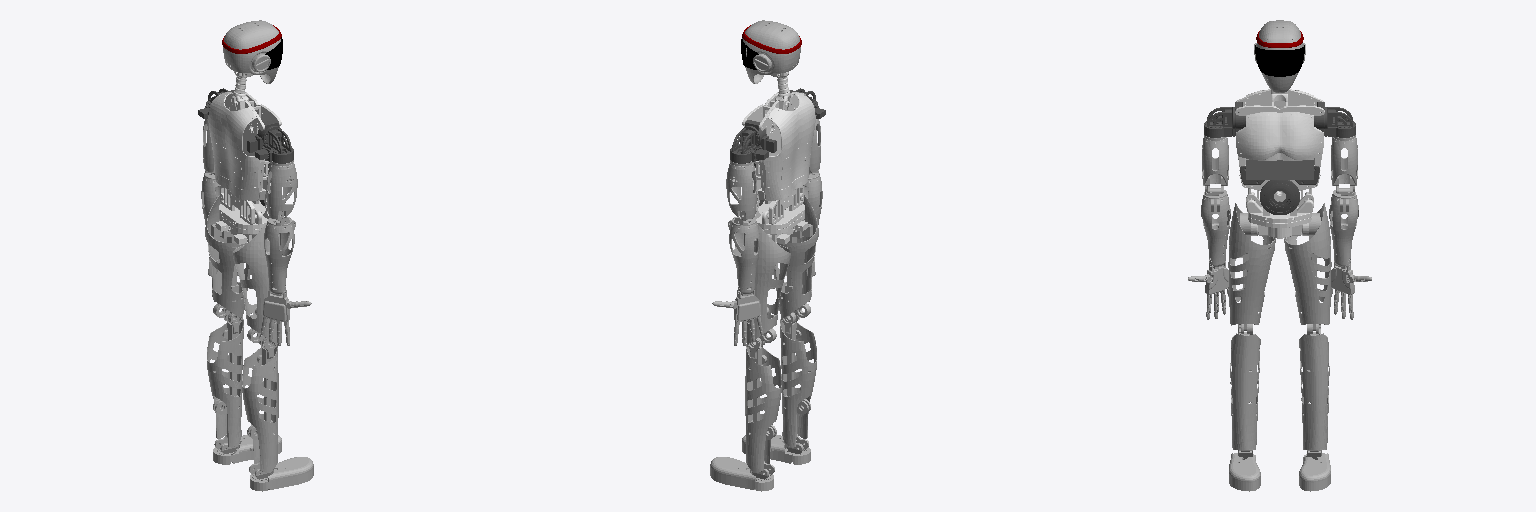
--- Render facts (derived) ---
3 views of the same robot in one strip: view 1: azimuth 30°, elevation 25°; view 2: azimuth 150°, elevation 25°; view 3: azimuth 270°, elevation 25° (orthographic).
Model css_bot with 63 links and 62 joints (34 revolute, 28 fixed), rooted at Link_Stom, posed every joint at zero.
Visible links, largest first — view 1: Link_Stom_2, Link_R_Knee, Link_L_Knee, Link_L_Hip, Link_R_Hip, Link_Head_2, Link_RShoulder_3, Link_Stom_1, Link_RElbow_1, Link_R_Foot, Link_RShoulder_2, Link_L_Foot (+2 smaller); view 2: Link_Stom_2, Link_L_Knee, Link_R_Knee, Link_R_Hip, Link_L_Hip, Link_Head_2, Link_LShoulder_3, Link_Stom_1, Link_LElbow_1, Link_L_Foot, Link_LShoulder_2, Link_R_Foot (+2 smaller); view 3: Link_Stom_2, Link_R_Hip, Link_L_Hip, Link_R_Knee, Link_L_Knee, Link_Screen, Link_Head_2, Link_RElbow_1, Link_LElbow_1, Link_LShoulder_3, Link_RShoulder_3, Link_Stom_1 (+8 smaller).
Boxes of the visible links, x1,y1,x2,y2 form: Link_Stom_2: [208, 71, 281, 200]; Link_R_Knee: [242, 338, 278, 472]; Link_L_Knee: [207, 313, 243, 447]; Link_L_Hip: [205, 195, 250, 322]; Link_R_Hip: [233, 224, 279, 346]; Link_Head_2: [223, 20, 280, 83]; Link_RShoulder_3: [267, 160, 297, 220]; Link_Stom_1: [219, 186, 269, 229]; Link_RElbow_1: [264, 215, 295, 269]; Link_R_Foot: [250, 457, 313, 491]; Link_RShoulder_2: [255, 126, 293, 163]; Link_L_Foot: [213, 434, 281, 464]; Link_Stom_2: [742, 72, 815, 200]; Link_L_Knee: [745, 338, 781, 472]; Link_R_Knee: [780, 313, 816, 447]; Link_R_Hip: [773, 195, 818, 322]; Link_L_Hip: [744, 224, 790, 346]; Link_Head_2: [742, 20, 800, 83]; Link_LShoulder_3: [726, 160, 756, 220]; Link_Stom_1: [754, 186, 804, 229]; Link_LElbow_1: [728, 215, 759, 269]; Link_L_Foot: [710, 457, 773, 491]; Link_LShoulder_2: [730, 128, 768, 163]; Link_R_Foot: [742, 434, 810, 464]; Link_Stom_2: [1235, 89, 1324, 190]; Link_R_Hip: [1228, 203, 1275, 333]; Link_L_Hip: [1284, 203, 1331, 333]; Link_R_Knee: [1230, 324, 1260, 451]; Link_L_Knee: [1299, 324, 1329, 451]; Link_Screen: [1240, 160, 1319, 214]; Link_Head_2: [1254, 20, 1305, 92]; Link_RElbow_1: [1201, 186, 1230, 241]; Link_LElbow_1: [1329, 186, 1358, 241]; Link_LShoulder_3: [1331, 135, 1357, 193]; Link_RShoulder_3: [1202, 135, 1228, 193]; Link_Stom_1: [1246, 188, 1313, 222].
Size in the robot's own frame: 0.298 by 0.6443 by 1.71 metres.
Meshes: 61 distinct files referenced, 61 mesh visuals loaded (61 binary STL).

robot.urdf — css_bot:
<?xml version="1.0" encoding="utf-8"?>
<!-- This URDF was automatically created by SolidWorks to URDF Exporter! Originally created by Stephen Brawner ([email redacted]) 
     Commit Version: 1.6.0-4-g7f85cfe  Build Version: 1.6.7995.38578
     For more information, please see http://wiki.ros.org/sw_urdf_exporter -->
<robot
  name="css_bot">
  <link
    name="Link_Stom">
    <inertial>
      <origin
        xyz="-0.010395 6.7688E-09 -0.023836"
        rpy="0 0 0" />
      <mass
        value="1.0621" />
      <inertia
        ixx="0.0038925"
        ixy="-2.8123E-10"
        ixz="3.9723E-05"
        iyy="0.001901"
        iyz="5.3901E-11"
        izz="0.0051791" />
    </inertial>
    <visual>
      <origin
        xyz="0 0 0"
        rpy="0 0 0" />
      <geometry>
        <mesh
          filename="package://css_bot/meshes/Link_Stom.STL" />
      </geometry>
      <material
        name="CoolGray1C">
        <color
          rgba="0.9 0.9 0.9 1" />
      </material>
    </visual>
    <collision>
      <origin
        xyz="0 0 0"
        rpy="0 0 0" />
      <geometry>
        <mesh
          filename="package://css_bot/meshes/Link_Stom.STL" />
      </geometry>
    </collision>
  </link>
  <link
    name="Link_Stom_1">
    <inertial>
      <origin
        xyz="-0.00760104950242152 -8.16738800348226E-10 0.0431330359785387"
        rpy="0 0 0" />
      <mass
        value="1.09120545847975" />
      <inertia
        ixx="0.0035291046529339"
        ixy="1.58514373681448E-10"
        ixz="-4.08388755605739E-05"
        iyy="0.00145987275495497"
        iyz="2.35755287339547E-10"
        izz="0.00428996022500754" />
    </inertial>
    <visual>
      <origin
        xyz="0 0 0"
        rpy="0 0 0" />
      <geometry>
        <mesh
          filename="package://css_bot/meshes/Link_Stom_1.STL" />
      </geometry>
      <material
        name="CoolGray1C">
        <color
          rgba="0.9 0.9 0.9 1" />
      </material>
    </visual>
    <collision>
      <origin
        xyz="0 0 0"
        rpy="0 0 0" />
      <geometry>
        <mesh
          filename="package://css_bot/meshes/Link_Stom_1.STL" />
      </geometry>
    </collision>
  </link>
  <joint
    name="Joint_Stom_1"
    type="fixed">
    <origin
      xyz="0 0 0"
      rpy="0 0 0" />
    <parent
      link="Link_Stom" />
    <child
      link="Link_Stom_1" />
    <axis
      xyz="0 0 1" />
    <limit
      lower="-1.6"
      upper="1.6"
      effort="100"
      velocity="1" />
    <dynamics
      damping="0"
      friction="0" />
  </joint>
  <link
    name="Link_Stom_2">
    <inertial>
      <origin
        xyz="-0.00617798342089961 9.69258275608772E-06 0.175039056480645"
        rpy="0 0 0" />
      <mass
        value="2.55411858945128" />
      <inertia
        ixx="0.0330447440758719"
        ixy="-1.10749041056143E-07"
        ixz="0.00018400689487766"
        iyy="0.0195516919886766"
        iyz="2.08788417839773E-06"
        izz="0.0140951894930034" />
    </inertial>
    <visual>
      <origin
        xyz="0 0 0"
        rpy="0 0 0" />
      <geometry>
        <mesh
          filename="package://css_bot/meshes/Link_Stom_2.STL" />
      </geometry>
      <material
        name="CoolGray1C">
        <color
          rgba="0.9 0.9 0.9 1" />
      </material>
    </visual>
    <collision>
      <origin
        xyz="0 0 0"
        rpy="0 0 0" />
      <geometry>
        <mesh
          filename="package://css_bot/meshes/Link_Stom_2.STL" />
      </geometry>
    </collision>
  </link>
  <joint
    name="Joint_Stom_2"
    type="fixed">
    <origin
      xyz="0 0 0.108"
      rpy="0 0 0" />
    <parent
      link="Link_Stom_1" />
    <child
      link="Link_Stom_2" />
    <axis
      xyz="1 0 0" />
    <limit
      lower="-0.6"
      upper="0.6"
      effort="100"
      velocity="1" />
    <dynamics
      damping="0"
      friction="0" />
  </joint>
  <link
    name="Link_RShoulder_1">
    <inertial>
      <origin
        xyz="0.0526993138939105 -0.0108285250828227 0.0120153601424977"
        rpy="0 0 0" />
      <mass
        value="0.22436008904152" />
      <inertia
        ixx="0.000110606343158319"
        ixy="6.33042195287753E-06"
        ixz="-1.34435923655176E-05"
        iyy="0.000279708883787942"
        iyz="7.6415413976905E-07"
        izz="0.000199344546225538" />
    </inertial>
    <visual>
      <origin
        xyz="0 0 0"
        rpy="0 0 0" />
      <geometry>
        <mesh
          filename="package://css_bot/meshes/Link_RShoulder_1.STL" />
      </geometry>
      <material
        name="Black">
        <color
          rgba="0.4 0.4 0.4 1" />
      </material>
    </visual>
    <collision>
      <origin
        xyz="0 0 0"
        rpy="0 0 0" />
      <geometry>
        <mesh
          filename="package://css_bot/meshes/Link_RShoulder_1.STL" />
      </geometry>
    </collision>
  </link>
  <joint
    name="Joint_RShoulder_1"
    type="revolute">
    <origin
      xyz="0 -0.1435 0.298"
      rpy="3.1416 1.5708 0" />
    <parent
      link="Link_Stom_2" />
    <child
      link="Link_RShoulder_1" />
    <axis
      xyz="0 0 1" />
    <limit
      lower="0"
      upper="1.6"
      effort="100"
      velocity="10" />
    <dynamics
      damping="0"
      friction="0" />
  </joint>
  <link
    name="Link_RShoulder_2">
    <inertial>
      <origin
        xyz="-0.00919278113282453 -0.0262090385845012 -0.0270204406704604"
        rpy="0 0 0" />
      <mass
        value="0.295164250786627" />
      <inertia
        ixx="0.000241545582831188"
        ixy="1.2905993003123E-06"
        ixz="-9.01693233840921E-06"
        iyy="0.000281618212802564"
        iyz="1.47494309594065E-06"
        izz="0.000185886607534219" />
    </inertial>
    <visual>
      <origin
        xyz="0 0 0"
        rpy="0 0 0" />
      <geometry>
        <mesh
          filename="package://css_bot/meshes/Link_RShoulder_2.STL" />
      </geometry>
      <material
        name="Black">
        <color
          rgba="0.4 0.4 0.4 1" />
      </material>
    </visual>
    <collision>
      <origin
        xyz="0 0 0"
        rpy="0 0 0" />
      <geometry>
        <mesh
          filename="package://css_bot/meshes/Link_RShoulder_2.STL" />
      </geometry>
    </collision>
  </link>
  <joint
    name="Joint_RShoulder_2"
    type="revolute">
    <origin
      xyz="0.039 0.081 0"
      rpy="-1.5708 1.5708 0" />
    <parent
      link="Link_RShoulder_1" />
    <child
      link="Link_RShoulder_2" />
    <axis
      xyz="0 0 1" />
    <limit
      lower="0"
      upper="3.2"
      effort="100"
      velocity="10" />
    <dynamics
      damping="0"
      friction="0" />
  </joint>
  <link
    name="Link_RShoulder_3">
    <inertial>
      <origin
        xyz="-0.0050292255927874 1.45597740222603E-06 -0.140384000605186"
        rpy="0 0 0" />
      <mass
        value="0.299216908480878" />
      <inertia
        ixx="0.00110749831481239"
        ixy="-1.11903745038465E-09"
        ixz="0.000126955203324863"
        iyy="0.00110531871737773"
        iyz="3.25575630405315E-08"
        izz="0.000482637023796558" />
    </inertial>
    <visual>
      <origin
        xyz="0 0 0"
        rpy="0 0 0" />
      <geometry>
        <mesh
          filename="package://css_bot/meshes/Link_RShoulder_3.STL" />
      </geometry>
      <material
        name="CoolGray4C">
        <color
          rgba="0.74 0.74 0.74 1" />
      </material>
    </visual>
    <collision>
      <origin
        xyz="0 0 0"
        rpy="0 0 0" />
      <geometry>
        <mesh
          filename="package://css_bot/meshes/Link_RShoulder_3.STL" />
      </geometry>
    </collision>
  </link>
  <joint
    name="Joint_RShoulder_3"
    type="revolute">
    <origin
      xyz="0 -0.284 0"
      rpy="1.5708 0 0" />
    <parent
      link="Link_RShoulder_2" />
    <child
      link="Link_RShoulder_3" />
    <axis
      xyz="0 0 1" />
    <limit
      lower="-1.6"
      upper="1.6"
      effort="100"
      velocity="10" />
    <dynamics
      damping="0"
      friction="0" />
  </joint>
  <link
    name="Link_RElbow_1">
    <inertial>
      <origin
        xyz="-0.00245421928023107 -0.0843351414367431 0.00416854388916815"
        rpy="0 0 0" />
      <mass
        value="0.242731060300689" />
      <inertia
        ixx="0.000626338354994353"
        ixy="-4.14375951631432E-05"
        ixz="-1.56017336140974E-05"
        iyy="0.000374866306493349"
        iyz="-1.1687248730107E-05"
        izz="0.00066113075594044" />
    </inertial>
    <visual>
      <origin
        xyz="0 0 0"
        rpy="0 0 0" />
      <geometry>
        <mesh
          filename="package://css_bot/meshes/Link_RElbow_1.STL" />
      </geometry>
      <material
        name="CoolGray4C">
        <color
          rgba="0.74 0.74 0.74 1" />
      </material>
    </visual>
    <collision>
      <origin
        xyz="0 0 0"
        rpy="0 0 0" />
      <geometry>
        <mesh
          filename="package://css_bot/meshes/Link_RElbow_1.STL" />
      </geometry>
    </collision>
  </link>
  <joint
    name="Joint_RElbow_1"
    type="revolute">
    <origin
      xyz="-0.008 -0.0065532 0"
      rpy="-1.5708 0 0" />
    <parent
      link="Link_RShoulder_3" />
    <child
      link="Link_RElbow_1" />
    <axis
      xyz="0 0 1" />
    <limit
      lower="0"
      upper="2.2"
      effort="100"
      velocity="1" />
    <dynamics
      damping="0"
      friction="0" />
  </joint>
  <link
    name="Link_RElbow_2">
    <inertial>
      <origin
        xyz="7.18961342559277E-05 -0.000360282308781629 -0.0475347118463018"
        rpy="0 0 0" />
      <mass
        value="0.158787685430162" />
      <inertia
        ixx="0.000171996630320634"
        ixy="7.78607075139518E-08"
        ixz="-3.81467208085751E-07"
        iyy="0.000178445648091556"
        iyz="5.52381737061786E-06"
        izz="7.8444581912449E-05" />
    </inertial>
    <visual>
      <origin
        xyz="0 0 0"
        rpy="0 0 0" />
      <geometry>
        <mesh
          filename="package://css_bot/meshes/Link_RElbow_2.STL" />
      </geometry>
      <material
        name="CoolGray4C">
        <color
          rgba="0.74 0.74 0.74 1" />
      </material>
    </visual>
    <collision>
      <origin
        xyz="0 0 0"
        rpy="0 0 0" />
      <geometry>
        <mesh
          filename="package://css_bot/meshes/Link_RElbow_2.STL" />
      </geometry>
    </collision>
  </link>
  <joint
    name="Joint_RElbow_2"
    type="revolute">
    <origin
      xyz="-0.0065886 -0.283 0"
      rpy="1.5708 0.61087 0" />
    <parent
      link="Link_RElbow_1" />
    <child
      link="Link_RElbow_2" />
    <axis
      xyz="0 0 1" />
    <limit
      lower="-3.2"
      upper="3.2"
      effort="100"
      velocity="1" />
    <dynamics
      damping="0"
      friction="0" />
  </joint>
  <link
    name="Link_RWrist">
    <inertial>
      <origin
        xyz="-3.78173038768359E-05 -0.0616982963757688 -0.00213797037412256"
        rpy="0 0 0" />
      <mass
        value="0.0902142977443489" />
      <inertia
        ixx="0.000157827218564051"
        ixy="-1.11371620734417E-06"
        ixz="7.68125657090408E-07"
        iyy="7.37514900983847E-05"
        iyz="-2.21689704274223E-06"
        izz="8.9448371336846E-05" />
    </inertial>
    <visual>
      <origin
        xyz="0 0 0"
        rpy="0 0 0" />
      <geometry>
        <mesh
          filename="package://css_bot/meshes/Link_RWrist.STL" />
      </geometry>
      <material
        name="CoolGray4C">
        <color
          rgba="0.74 0.74 0.74 1" />
      </material>
    </visual>
    <collision>
      <origin
        xyz="0 0 0"
        rpy="0 0 0" />
      <geometry>
        <mesh
          filename="package://css_bot/meshes/Link_RWrist.STL" />
      </geometry>
    </collision>
  </link>
  <joint
    name="Joint_RWrist"
    type="revolute">
    <origin
      xyz="0 0 0"
      rpy="-1.5708 0 0" />
    <parent
      link="Link_RElbow_2" />
    <child
      link="Link_RWrist" />
    <axis
      xyz="0 0 1" />
    <limit
      lower="-1.6"
      upper="1.6"
      effort="100"
      velocity="1" />
    <dynamics
      damping="0"
      friction="0" />
  </joint>
  
  
  
  
  
  <link
    name="Link_RHand">
    <inertial>
      <origin
        xyz="0 0 0"
        rpy="0 0 0" />
      <mass
        value="0.01" />
      <inertia
        ixx="1E-05"
        ixy="0"
        ixz="0"
        iyy="1E-05"
        iyz="0"
        izz="1E-05" />
    </inertial>
    <visual>
      <origin
        xyz="0 0 0"
        rpy="0 0 0" />
      <geometry>
        <box size="0.001 0.001 0.001" />
      </geometry>
      <material
        name="CoolGray4C">
        <color
          rgba="0.74 0.74 0.74 1" />
      </material>
    </visual>
    <collision>
      <origin
        xyz="0 0 0"
        rpy="0 0 0" />
      <geometry>
        <box size="0.001 0.001 0.001" />
      </geometry>
    </collision>
  </link>
  
  
  <joint
    name="Joint_RHand"
    type="revolute">
    <origin
      xyz="0 -0.07 0"
      rpy="0 0 0" />
    <parent
      link="Link_RWrist" />
    <child
      link="Link_RHand" />
    <axis
      xyz="1 0 0" />
    <limit
      lower="-1.6"
      upper="1.6"
      effort="100"
      velocity="1" />
    <dynamics
      damping="0"
      friction="0" />
  </joint>
  
  

  <link
    name="Link_LShoulder_1">
    <inertial>
      <origin
        xyz="0.0510533433361345 -0.00326315277223052 -0.00926588156540074"
        rpy="0 0 0" />
      <mass
        value="0.290934699369272" />
      <inertia
        ixx="0.000138660279827731"
        ixy="1.22470230213397E-05"
        ixz="1.34432948244159E-05"
        iyy="0.000352507370976174"
        iyz="-7.64157785142655E-07"
        izz="0.000256248629367538" />
    </inertial>
    <visual>
      <origin
        xyz="0 0 0"
        rpy="0 0 0" />
      <geometry>
        <mesh
          filename="package://css_bot/meshes/Link_LShoulder_1.STL" />
      </geometry>
      <material
        name="Black">
        <color
          rgba="0.4 0.4 0.4 1" />
      </material>
    </visual>
    <collision>
      <origin
        xyz="0 0 0"
        rpy="0 0 0" />
      <geometry>
        <mesh
          filename="package://css_bot/meshes/Link_LShoulder_1.STL" />
      </geometry>
    </collision>
  </link>
  <joint
    name="Joint_LShoulder_1"
    type="revolute">
    <origin
      xyz="0 0.1435 0.298"
      rpy="0 1.5708 0" />
    <parent
      link="Link_Stom_2" />
    <child
      link="Link_LShoulder_1" />
    <axis
      xyz="0 0 1" />
    <limit
      lower="0"
      upper="1.6"
      effort="100"
      velocity="1" />
    <dynamics
      damping="0"
      friction="0" />
  </joint>
  <link
    name="Link_LShoulder_2">
    <inertial>
      <origin
        xyz="-0.00919279828932673 -0.0262090339664297 0.0270204527291376"
        rpy="0 0 0" />
      <mass
        value="0.295164282264257" />
      <inertia
        ixx="0.000241545396772354"
        ixy="1.29059441831345E-06"
        ixz="9.01650246544348E-06"
        iyy="0.000281617999616376"
        iyz="-1.47487765925017E-06"
        izz="0.000185886599441572" />
    </inertial>
    <visual>
      <origin
        xyz="0 0 0"
        rpy="0 0 0" />
      <geometry>
        <mesh
          filename="package://css_bot/meshes/Link_LShoulder_2.STL" />
      </geometry>
      <material
        name="Black">
        <color
          rgba="0.4 0.4 0.4 1" />
      </material>
    </visual>
    <collision>
      <origin
        xyz="0 0 0"
        rpy="0 0 0" />
      <geometry>
        <mesh
          filename="package://css_bot/meshes/Link_LShoulder_2.STL" />
      </geometry>
    </collision>
  </link>
  <joint
    name="Joint_LShoulder_2"
    type="revolute">
    <origin
      xyz="0.039 0.081 0"
      rpy="1.5708 -1.5708 0" />
    <parent
      link="Link_LShoulder_1" />
    <child
      link="Link_LShoulder_2" />
    <axis
      xyz="0 0 1" />
    <limit
      lower="0"
      upper="3.2"
      effort="100"
      velocity="1" />
    <dynamics
      damping="0"
      friction="0" />
  </joint>
  <link
    name="Link_LShoulder_3">
    <inertial>
      <origin
        xyz="-0.00502922561677471 -1.45601391268735E-06 0.140384000579655"
        rpy="0 0 0" />
      <mass
        value="0.299216908463602" />
      <inertia
        ixx="0.00110749831524665"
        ixy="1.11812019895739E-09"
        ixz="-0.000126955201093836"
        iyy="0.00110531871807052"
        iyz="3.2556000409913E-08"
        izz="0.000482637023951345" />
    </inertial>
    <visual>
      <origin
        xyz="0 0 0"
        rpy="0 0 0" />
      <geometry>
        <mesh
          filename="package://css_bot/meshes/Link_LShoulder_3.STL" />
      </geometry>
      <material
        name="CoolGray4C">
        <color
          rgba="0.74 0.74 0.74 1" />
      </material>
    </visual>
    <collision>
      <origin
        xyz="0 0 0"
        rpy="0 0 0" />
      <geometry>
        <mesh
          filename="package://css_bot/meshes/Link_LShoulder_3.STL" />
      </geometry>
    </collision>
  </link>
  <joint
    name="Joint_LShoulder_3"
    type="revolute">
    <origin
      xyz="0 -0.284 0"
      rpy="-1.5708 0 0" />
    <parent
      link="Link_LShoulder_2" />
    <child
      link="Link_LShoulder_3" />
    <axis
      xyz="0 0 1" />
    <limit
      lower="-1.6"
      upper="1.6"
      effort="100"
      velocity="1" />
    <dynamics
      damping="0"
      friction="0" />
  </joint>
  <link
    name="Link_LElbow_1">
    <inertial>
      <origin
        xyz="-0.00242244016275873 -0.0843357594651711 -0.00416805387048946"
        rpy="0 0 0" />
      <mass
        value="0.242785147456823" />
      <inertia
        ixx="0.000626371587316545"
        ixy="-4.14696425589225E-05"
        ixz="1.56040453777136E-05"
        iyy="0.000374912863849707"
        iyz="1.16689145799547E-05"
        izz="0.000661179044762751" />
    </inertial>
    <visual>
      <origin
        xyz="0 0 0"
        rpy="0 0 0" />
      <geometry>
        <mesh
          filename="package://css_bot/meshes/Link_LElbow_1.STL" />
      </geometry>
      <material
        name="CoolGray4C">
        <color
          rgba="0.74 0.74 0.74 1" />
      </material>
    </visual>
    <collision>
      <origin
        xyz="0 0 0"
        rpy="0 0 0" />
      <geometry>
        <mesh
          filename="package://css_bot/meshes/Link_LElbow_1.STL" />
      </geometry>
    </collision>
  </link>
  <joint
    name="Joint_LElbow_1"
    type="revolute">
    <origin
      xyz="-0.008 -0.0065532 0"
      rpy="1.5708 0 0" />
    <parent
      link="Link_LShoulder_3" />
    <child
      link="Link_LElbow_1" />
    <axis
      xyz="0 0 1" />
    <limit
      lower="0"
      upper="2.2"
      effort="100"
      velocity="1" />
    <dynamics
      damping="0"
      friction="0" />
  </joint>
  <link
    name="Link_LElbow_2">
    <inertial>
      <origin
        xyz="7.11991651743127E-05 -0.000361046082564515 0.0475376748447518"
        rpy="0 0 0" />
      <mass
        value="0.158786049387992" />
      <inertia
        ixx="0.000171964623991344"
        ixy="7.95763973462228E-08"
        ixz="3.80210295994158E-07"
        iyy="0.000178426550457842"
        iyz="-5.5242827160403E-06"
        izz="7.84373030335707E-05" />
    </inertial>
    <visual>
      <origin
        xyz="0 0 0"
        rpy="0 0 0" />
      <geometry>
        <mesh
          filename="package://css_bot/meshes/Link_LElbow_2.STL" />
      </geometry>
      <material
        name="CoolGray4C">
        <color
          rgba="0.74 0.74 0.74 1" />
      </material>
    </visual>
    <collision>
      <origin
        xyz="0 0 0"
        rpy="0 0 0" />
      <geometry>
        <mesh
          filename="package://css_bot/meshes/Link_LElbow_2.STL" />
      </geometry>
    </collision>
  </link>
  <joint
    name="Joint_LElbow_2"
    type="revolute">
    <origin
      xyz="-0.0065886 -0.283 0"
      rpy="-1.5708 -0.61087 0" />
    <parent
      link="Link_LElbow_1" />
    <child
      link="Link_LElbow_2" />
    <axis
      xyz="0 0 1" />
    <limit
      lower="-3.2"
      upper="3.2"
      effort="100"
      velocity="1" />
    <dynamics
      damping="0"
      friction="0" />
  </joint>
  <link
    name="Link_LWrist">
    <inertial>
      <origin
        xyz="-3.77612508208336E-05 -0.0616983819606961 0.00213780181540502"
        rpy="0 0 0" />
      <mass
        value="0.0902143819327976" />
      <inertia
        ixx="0.000157825667171504"
        ixy="-1.11374466439326E-06"
        ixz="-7.68207492668127E-07"
        iyy="7.37508927218217E-05"
        iyz="2.21760096429943E-06"
        izz="8.94474097660853E-05" />
    </inertial>
    <visual>
      <origin
        xyz="0 0 0"
        rpy="0 0 0" />
      <geometry>
        <mesh
          filename="package://css_bot/meshes/Link_LWrist.STL" />
      </geometry>
      <material
        name="CoolGray4C">
        <color
          rgba="0.74 0.74 0.74 1" />
      </material>
    </visual>
    <collision>
      <origin
        xyz="0 0 0"
        rpy="0 0 0" />
      <geometry>
        <mesh
          filename="package://css_bot/meshes/Link_LWrist.STL" />
      </geometry>
    </collision>
  </link>
  <joint
    name="Joint_LWrist"
    type="revolute">
    <origin
      xyz="0 0 0"
      rpy="1.5708 0 0" />
    <parent
      link="Link_LElbow_2" />
    <child
      link="Link_LWrist" />
    <axis
      xyz="0 0 1" />
    <limit
      lower="-1.6"
      upper="1.6"
      effort="100"
      velocity="1" />
    <dynamics
      damping="0"
      friction="0" />
  </joint>
  
  
  
  
  <link
    name="Link_LHand">
    <inertial>
      <origin
        xyz="0 0 0"
        rpy="0 0 0" />
      <mass
        value="0.01" />
      <inertia
        ixx="1E-05"
        ixy="0"
        ixz="0"
        iyy="1E-05"
        iyz="0"
        izz="1E-05" />
    </inertial>
    <visual>
      <origin
        xyz="0 0 0"
        rpy="0 0 0" />
      <geometry>
        <box size="0.001 0.001 0.001" />
      </geometry>
      <material
        name="CoolGray4C">
        <color
          rgba="0.74 0.74 0.74 1" />
      </material>
    </visual>
    <collision>
      <origin
        xyz="0 0 0"
        rpy="0 0 0" />
      <geometry>
        <box size="0.001 0.001 0.001" />
      </geometry>
    </collision>
  </link>
  
  
  <joint
    name="Joint_LHand"
    type="revolute">
    <origin
      xyz="0 -0.07 0"
      rpy="0 0 0" />
    <parent
      link="Link_LWrist" />
    <child
      link="Link_LHand" />
    <axis
      xyz="1 0 0" />
    <limit
      lower="-1.6"
      upper="1.6"
      effort="100"
      velocity="1" />
    <dynamics
      damping="0"
      friction="0" />
  </joint>
  
  
  
  
  
  
  
  
  
  
  <link
    name="Link_Head_1">
    <inertial>
      <origin
        xyz="0.0138301833116303 -1.1884863730585E-08 0.0173354557591698"
        rpy="0 0 0" />
      <mass
        value="0.0829512020115408" />
      <inertia
        ixx="3.29406996966869E-05"
        ixy="9.29835887946738E-12"
        ixz="3.48957105779506E-06"
        iyy="3.09683706083239E-05"
        iyz="-2.18565525883516E-12"
        izz="4.82836893356411E-05" />
    </inertial>
    <visual>
      <origin
        xyz="0 0 0"
        rpy="0 0 0" />
      <geometry>
        <mesh
          filename="package://css_bot/meshes/Link_Head_1.STL" />
      </geometry>
      <material
        name="CoolGray4C">
        <color
          rgba="0.74 0.74 0.74 1" />
      </material>
    </visual>
    <collision>
      <origin
        xyz="0 0 0"
        rpy="0 0 0" />
      <geometry>
        <mesh
          filename="package://css_bot/meshes/Link_Head_1.STL" />
      </geometry>
    </collision>
  </link>
  <joint
    name="Joint_Head_1"
    type="revolute">
    <origin
      xyz="-0.0332 0 0.4498"
      rpy="0 0 0" />
    <parent
      link="Link_Stom_2" />
    <child
      link="Link_Head_1" />
    <axis
      xyz="0 -1 0" />
    <limit
      lower="-0.6"
      upper="0.6"
      effort="20"
      velocity="1" />
    <dynamics
      damping="0"
      friction="0" />
  </joint>
  <link
    name="Link_Head_2">
    <inertial>
      <origin
        xyz="0.0466059543339363 0.000809787703814823 0.0455253171004644"
        rpy="0 0 0" />
      <mass
        value="0.471334696599592" />
      <inertia
        ixx="0.00219066265339623"
        ixy="-1.80320823260219E-07"
        ixz="0.00012661296650134"
        iyy="0.00219575726148654"
        iyz="1.07541415903684E-06"
        izz="0.00217483040749328" />
    </inertial>
    <visual>
      <origin
        xyz="0 0 0"
        rpy="0 0 0" />
      <geometry>
        <mesh
          filename="package://css_bot/meshes/Link_Head_2.STL" />
      </geometry>
      <material
        name="CoolGray4C">
        <color
          rgba="0.74 0.74 0.74 1" />
      </material>
    </visual>
    <collision>
      <origin
        xyz="0 0 0"
        rpy="0 0 0" />
      <geometry>
        <mesh
          filename="package://css_bot/meshes/Link_Head_2.STL" />
      </geometry>
    </collision>
  </link>
  <joint
    name="Joint_Head_2"
    type="revolute">
    <origin
      xyz="-0.0012 0 0.033"
      rpy="0 0 0" />
    <parent
      link="Link_Head_1" />
    <child
      link="Link_Head_2" />
    <axis
      xyz="0 0 1" />
    <limit
      lower="-1.6"
      upper="1.6"
      effort="20"
      velocity="1" />
    <dynamics
      damping="0"
      friction="0" />
  </joint>
  <link
    name="Link_Mask">
    <inertial>
      <origin
        xyz="0.119264325749082 -0.00109067122959426 0.034887866420321"
        rpy="0 0 0" />
      <mass
        value="0.0506737660660327" />
      <inertia
        ixx="0.000206976982484592"
        ixy="-1.1579157907833E-06"
        ixz="-4.41753317674796E-06"
        iyy="7.51929214388348E-05"
        iyz="1.04063187391165E-06"
        izz="0.000205442873219289" />
    </inertial>
    <visual>
      <origin
        xyz="0 0 0"
        rpy="0 0 0" />
      <geometry>
        <mesh
          filename="package://css_bot/meshes/Link_Mask.STL" />
      </geometry>
      <material
        name="BlackMask">
        <color
          rgba="0 0 0 0.8" />
      </material>
    </visual>
    <collision>
      <origin
        xyz="0 0 0"
        rpy="0 0 0" />
      <geometry>
        <mesh
          filename="package://css_bot/meshes/Link_Mask.STL" />
      </geometry>
    </collision>
  </link>
  <joint
    name="Joint_Mask"
    type="fixed">
    <origin
      xyz="0 0 0"
      rpy="0 0 0" />
    <parent
      link="Link_Head_2" />
    <child
      link="Link_Mask" />
    <axis
      xyz="0 0 0" />
  </joint>
  <link
    name="Link_HeadSet">
    <inertial>
      <origin
        xyz="0.0417289420513811 -1.04973178990862E-05 0.0893099242836207"
        rpy="0 0 0" />
      <mass
        value="0.0359125697522366" />
      <inertia
        ixx="0.000133156532306671"
        ixy="1.80891772538677E-08"
        ixz="-2.50471377994297E-05"
        iyy="0.000182759920246342"
        iyz="3.88327442923328E-09"
        izz="0.000307577762207942" />
    </inertial>
    <visual>
      <origin
        xyz="0 0 0"
        rpy="0 0 0" />
      <geometry>
        <mesh
          filename="package://css_bot/meshes/Link_HeadSet.STL" />
      </geometry>
      <material
        name="RedHeadSet">
        <color
          rgba="0.6 0 0 1" />
      </material>
    </visual>
    <collision>
      <origin
        xyz="0 0 0"
        rpy="0 0 0" />
      <geometry>
        <mesh
          filename="package://css_bot/meshes/Link_HeadSet.STL" />
      </geometry>
    </collision>
  </link>
  <joint
    name="Joint_HeadSet"
    type="fixed">
    <origin
      xyz="0 0 0"
      rpy="0 0 0" />
    <parent
      link="Link_Head_2" />
    <child
      link="Link_HeadSet" />
    <axis
      xyz="0 0 0" />
  </joint>
  <link
    name="Link_RLens">
    <inertial>
      <origin
        xyz="0 1.33226762955019E-15 0.00750000000000003"
        rpy="0 0 0" />
      <mass
        value="0.00425293105479718" />
      <inertia
        ixx="1.75699214201309E-07"
        ixy="-1.28212994945719E-23"
        ixz="-9.40319296583982E-24"
        iyy="1.75699214201309E-07"
        iyz="-4.243836930474E-23"
        izz="1.91913513847723E-07" />
    </inertial>
    <visual>
      <origin
        xyz="0 0 0"
        rpy="0 0 0" />
      <geometry>
        <mesh
          filename="package://css_bot/meshes/Link_RLens.STL" />
      </geometry>
      <material
        name="CoolGray4C">
        <color
          rgba="0.74 0.74 0.74 1" />
      </material>
    </visual>
    <collision>
      <origin
        xyz="0 0 0"
        rpy="0 0 0" />
      <geometry>
        <mesh
          filename="package://css_bot/meshes/Link_RLens.STL" />
      </geometry>
    </collision>
  </link>
  <joint
    name="Joint_RLens"
    type="fixed">
    <origin
      xyz="0.1106 -0.0315 0.0415"
      rpy="-1.5708 0 -1.5708" />
    <parent
      link="Link_Head_2" />
    <child
      link="Link_RLens" />
    <axis
      xyz="0 0 0" />
  </joint>
  <link
    name="Link_LLens">
    <inertial>
      <origin
        xyz="0 0 0.00750000000000001"
        rpy="0 0 0" />
      <mass
        value="0.00425293105479718" />
      <inertia
        ixx="1.75699214201309E-07"
        ixy="-2.62629844485587E-23"
        ixz="8.11898563536E-24"
        iyy="1.75699214201309E-07"
        iyz="-4.49282990814033E-23"
        izz="1.91913513847723E-07" />
    </inertial>
    <visual>
      <origin
        xyz="0 0 0"
        rpy="0 0 0" />
      <geometry>
        <mesh
          filename="package://css_bot/meshes/Link_LLens.STL" />
      </geometry>
      <material
        name="CoolGray4C">
        <color
          rgba="0.74 0.74 0.74 1" />
      </material>
    </visual>
    <collision>
      <origin
        xyz="0 0 0"
        rpy="0 0 0" />
      <geometry>
        <mesh
          filename="package://css_bot/meshes/Link_LLens.STL" />
      </geometry>
    </collision>
  </link>
  <joint
    name="Joint_LLens"
    type="fixed">
    <origin
      xyz="0.1106 0.0315 0.0415"
      rpy="-1.5708 0 -1.5708" />
    <parent
      link="Link_Head_2" />
    <child
      link="Link_LLens" />
    <axis
      xyz="0 0 0" />
  </joint>
  <link
    name="Link_Screen">
    <inertial>
      <origin
        xyz="0.0661179273303542 -0.000163697358785393 0.0616276140288366"
        rpy="0 0 0" />
      <mass
        value="0.486893916109835" />
      <inertia
        ixx="0.00206214533176528"
        ixy="-3.13323040099946E-07"
        ixz="3.91122026002132E-05"
        iyy="0.00033209440096118"
        iyz="-2.90758194358965E-07"
        izz="0.00179235011982338" />
    </inertial>
    <visual>
      <origin
        xyz="0 0 0"
        rpy="0 0 0" />
      <geometry>
        <mesh
          filename="package://css_bot/meshes/Link_Screen.STL" />
      </geometry>
      <material
        name="Black">
        <color
          rgba="0.4 0.4 0.4 1" />
      </material>
    </visual>
    <collision>
      <origin
        xyz="0 0 0"
        rpy="0 0 0" />
      <geometry>
        <mesh
          filename="package://css_bot/meshes/Link_Screen.STL" />
      </geometry>
    </collision>
  </link>
  <joint
    name="Joint_Screen"
    type="fixed">
    <origin
      xyz="0 0 0"
      rpy="0 0 0" />
    <parent
      link="Link_Stom_2" />
    <child
      link="Link_Screen" />
    <axis
      xyz="0 0 0" />
  </joint>
  <link
    name="Link_R_Hip">
    <inertial>
      <origin
        xyz="-0.00997561988040938 -0.162464062717018 0.019353535043174"
        rpy="0 0 0" />
      <mass
        value="0.780411280182123" />
      <inertia
        ixx="0.00505927248424749"
        ixy="0.000140216558568499"
        ixz="-5.16439347373851E-05"
        iyy="0.00113246968924035"
        iyz="0.000152277809595868"
        izz="0.00553935386704479" />
    </inertial>
    <visual>
      <origin
        xyz="0 0 0"
        rpy="0 0 0" />
      <geometry>
        <mesh
          filename="package://css_bot/meshes/Link_R_Hip.STL" />
      </geometry>
      <material
        name="CoolGray4C">
        <color
          rgba="0.74 0.74 0.74 1" />
      </material>
    </visual>
    <collision>
      <origin
        xyz="0 0 0"
        rpy="0 0 0" />
      <geometry>
        <mesh
          filename="package://css_bot/meshes/Link_R_Hip.STL" />
      </geometry>
    </collision>
  </link>
  <joint
    name="Joint_R_Hip"
    type="revolute">
    <origin
      xyz="0.0015024 -0.0995 -0.0404"
      rpy="1.5708 0 0" />
    <parent
      link="Link_Stom" />
    <child
      link="Link_R_Hip" />
    <axis
      xyz="0 0 1" />
    <limit
      lower="-1.6"
      upper="1.6"
      effort="100"
      velocity="1" />
    <dynamics
      damping="0"
      friction="0" />
  </joint>
  <link
    name="Link_R_Knee">
    <inertial>
      <origin
        xyz="-0.00734722578258825 -0.242439483600495 0.00126179244797699"
        rpy="0 0 0" />
      <mass
        value="0.62189637360919" />
      <inertia
        ixx="0.00612595790612977"
        ixy="0.000139669417998852"
        ixz="-4.66295725362517E-06"
        iyy="0.000512086301696514"
        iyz="3.08891465096266E-05"
        izz="0.00647011626045631" />
    </inertial>
    <visual>
      <origin
        xyz="0 0 0"
        rpy="0 0 0" />
      <geometry>
        <mesh
          filename="package://css_bot/meshes/Link_R_Knee.STL" />
      </geometry>
      <material
        name="CoolGray4C">
        <color
          rgba="0.74 0.74 0.74 1" />
      </material>
    </visual>
    <collision>
      <origin
        xyz="0 0 0"
        rpy="0 0 0" />
      <geometry>
        <mesh
          filename="package://css_bot/meshes/Link_R_Knee.STL" />
      </geometry>
    </collision>
  </link>
  <joint
    name="Joint_R_Knee"
    type="revolute">
    <origin
      xyz="0.00019762 -0.395 0.0202"
      rpy="0 0 0" />
    <parent
      link="Link_R_Hip" />
    <child
      link="Link_R_Knee" />
    <axis
      xyz="0 0 -1" />
    <limit
      lower="0"
      upper="1.6"
      effort="100"
      velocity="1" />
    <dynamics
      damping="0"
      friction="0" />
  </joint>
  <link
    name="Link_R_Ankle">
    <inertial>
      <origin
        xyz="-0.0204686215952675 -0.0341019673722565 -1.09940580819701E-07"
        rpy="0 0 0" />
      <mass
        value="0.128774238644745" />
      <inertia
        ixx="8.80913953315863E-05"
        ixy="-1.54133430600762E-05"
        ixz="-7.07087760344772E-10"
        iyy="7.05350993137179E-05"
        iyz="-1.63608154200333E-10"
        izz="9.1088449867769E-05" />
    </inertial>
    <visual>
      <origin
        xyz="0 0 0"
        rpy="0 0 0" />
      <geometry>
        <mesh
          filename="package://css_bot/meshes/Link_R_Ankle.STL" />
      </geometry>
      <material
        name="CoolGray4C">
        <color
          rgba="0.74 0.74 0.74 1" />
      </material>
    </visual>
    <collision>
      <origin
        xyz="0 0 0"
        rpy="0 0 0" />
      <geometry>
        <mesh
          filename="package://css_bot/meshes/Link_R_Ankle.STL" />
      </geometry>
    </collision>
  </link>
  <joint
    name="Joint_R_Ankle"
    type="revolute">
    <origin
      xyz="0 -0.465 0"
      rpy="0 0 0" />
    <parent
      link="Link_R_Knee" />
    <child
      link="Link_R_Ankle" />
    <axis
      xyz="0 0 1" />
    <limit
      lower="-1.6"
      upper="1.6"
      effort="100"
      velocity="1" />
    <dynamics
      damping="0"
      friction="0" />
  </joint>
  <link
    name="Link_R_Foot">
    <inertial>
      <origin
        xyz="0.079647735491064 0.00545306963133402 -0.0209546890089578"
        rpy="0 0 0" />
      <mass
        value="0.593869861360272" />
      <inertia
        ixx="0.000572148380260903"
        ixy="0.000186325350234356"
        ixz="-4.22714916872308E-05"
        iyy="0.00228735961827098"
        iyz="3.98496666177345E-07"
        izz="0.00277228959739648" />
    </inertial>
    <visual>
      <origin
        xyz="0 0 0"
        rpy="0 0 0" />
      <geometry>
        <mesh
          filename="package://css_bot/meshes/Link_R_Foot.STL" />
      </geometry>
      <material
        name="CoolGray4C">
        <color
          rgba="0.74 0.74 0.74 1" />
      </material>
    </visual>
    <collision>
      <origin
        xyz="0 0 0"
        rpy="0 0 0" />
      <geometry>
        <mesh
          filename="package://css_bot/meshes/Link_R_Foot.STL" />
      </geometry>
    </collision>
  </link>
  <joint
    name="Joint_R_Foot"
    type="revolute">
    <origin
      xyz="-0.025 -0.081 0"
      rpy="1.5708 0 0" />
    <parent
      link="Link_R_Ankle" />
    <child
      link="Link_R_Foot" />
    <axis
      xyz="0 0 1" />
    <limit
      lower="-1.6"
      upper="1.6"
      effort="100"
      velocity="1" />
    <dynamics
      damping="0"
      friction="0" />
  </joint>
  <link
    name="Link_L_Hip">
    <inertial>
      <origin
        xyz="-0.0100471882001052 -0.162681945706719 -0.0192171741598516"
        rpy="0 0 0" />
      <mass
        value="0.778784348724244" />
      <inertia
        ixx="0.00505365436800784"
        ixy="0.000139679215913995"
        ixz="5.00166934907534E-05"
        iyy="0.00113193919214933"
        iyz="-0.000152940746799196"
        izz="0.00553048557681037" />
    </inertial>
    <visual>
      <origin
        xyz="0 0 0"
        rpy="0 0 0" />
      <geometry>
        <mesh
          filename="package://css_bot/meshes/Link_L_Hip.STL" />
      </geometry>
      <material
        name="CoolGray4C">
        <color
          rgba="0.74 0.74 0.74 1" />
      </material>
    </visual>
    <collision>
      <origin
        xyz="0 0 0"
        rpy="0 0 0" />
      <geometry>
        <mesh
          filename="package://css_bot/meshes/Link_L_Hip.STL" />
      </geometry>
    </collision>
  </link>
  <joint
    name="Joint_L_Hip"
    type="revolute">
    <origin
      xyz="0.0015024 0.0995 -0.0404"
      rpy="1.5708 0 0" />
    <parent
      link="Link_Stom" />
    <child
      link="Link_L_Hip" />
    <axis
      xyz="0 0 1" />
    <limit
      lower="-1.6"
      upper="1.6"
      effort="100"
      velocity="1" />
    <dynamics
      damping="0"
      friction="0" />
  </joint>
  <link
    name="Link_L_Knee">
    <inertial>
      <origin
        xyz="-0.00734712778602507 -0.242454989901196 -0.00125765306234289"
        rpy="0 0 0" />
      <mass
        value="0.621957390627357" />
      <inertia
        ixx="0.00612645836425476"
        ixy="0.000139929549779588"
        ixz="4.59771595840403E-06"
        iyy="0.000512051366466895"
        iyz="-3.1110827792321E-05"
        izz="0.00647053672364023" />
    </inertial>
    <visual>
      <origin
        xyz="0 0 0"
        rpy="0 0 0" />
      <geometry>
        <mesh
          filename="package://css_bot/meshes/Link_L_Knee.STL" />
      </geometry>
      <material
        name="CoolGray4C">
        <color
          rgba="0.74 0.74 0.74 1" />
      </material>
    </visual>
    <collision>
      <origin
        xyz="0 0 0"
        rpy="0 0 0" />
      <geometry>
        <mesh
          filename="package://css_bot/meshes/Link_L_Knee.STL" />
      </geometry>
    </collision>
  </link>
  <joint
    name="Joint_L_Knee"
    type="revolute">
    <origin
      xyz="0.00019763 -0.395 -0.0198"
      rpy="0 0 0" />
    <parent
      link="Link_L_Hip" />
    <child
      link="Link_L_Knee" />
    <axis
      xyz="0 0 -1" />
    <limit
      lower="0"
      upper="1.6"
      effort="100"
      velocity="1" />
    <dynamics
      damping="0"
      friction="0" />
  </joint>
  <link
    name="Link_L_Ankle">
    <inertial>
      <origin
        xyz="-0.0204686215952681 -0.0341019673722559 -1.09940580583778E-07"
        rpy="0 0 0" />
      <mass
        value="0.128774238644744" />
      <inertia
        ixx="8.8091395331586E-05"
        ixy="-1.54133430600759E-05"
        ixz="-7.07087760162591E-10"
        iyy="7.05350993137168E-05"
        iyz="-1.63608154747323E-10"
        izz="9.10884498677681E-05" />
    </inertial>
    <visual>
      <origin
        xyz="0 0 0"
        rpy="0 0 0" />
      <geometry>
        <mesh
          filename="package://css_bot/meshes/Link_L_Ankle.STL" />
      </geometry>
      <material
        name="CoolGray4C">
        <color
          rgba="0.74 0.74 0.74 1" />
      </material>
    </visual>
    <collision>
      <origin
        xyz="0 0 0"
        rpy="0 0 0" />
      <geometry>
        <mesh
          filename="package://css_bot/meshes/Link_L_Ankle.STL" />
      </geometry>
    </collision>
  </link>
  <joint
    name="Joint_L_Ankle"
    type="revolute">
    <origin
      xyz="0 -0.465 0"
      rpy="0 0 0" />
    <parent
      link="Link_L_Knee" />
    <child
      link="Link_L_Ankle" />
    <axis
      xyz="0 0 1" />
    <limit
      lower="-1.6"
      upper="1.6"
      effort="100"
      velocity="1" />
    <dynamics
      damping="0"
      friction="0" />
  </joint>
  <link
    name="Link_L_Foot">
    <inertial>
      <origin
        xyz="0.0796354708604636 0.00545602768602996 0.0209512184613925"
        rpy="0 0 0" />
      <mass
        value="0.593795680504549" />
      <inertia
        ixx="0.000572089892832752"
        ixy="0.000186193682233326"
        ixz="4.22982529391076E-05"
        iyy="0.00228694119243288"
        iyz="-4.65859999824842E-07"
        izz="0.00277182036156883" />
    </inertial>
    <visual>
      <origin
        xyz="0 0 0"
        rpy="0 0 0" />
      <geometry>
        <mesh
          filename="package://css_bot/meshes/Link_L_Foot.STL" />
      </geometry>
      <material
        name="CoolGray4C">
        <color
          rgba="0.74 0.74 0.74 1" />
      </material>
    </visual>
    <collision>
      <origin
        xyz="0 0 0"
        rpy="0 0 0" />
      <geometry>
        <mesh
          filename="package://css_bot/meshes/Link_L_Foot.STL" />
      </geometry>
    </collision>
  </link>
  <joint
    name="Joint_L_Foot"
    type="revolute">
    <origin
      xyz="-0.025 -0.081 0"
      rpy="-1.5708 0 0" />
    <parent
      link="Link_L_Ankle" />
    <child
      link="Link_L_Foot" />
    <axis
      xyz="0 0 1" />
    <limit
      lower="-1.6"
      upper="1.6"
      effort="100"
      velocity="1" />
    <dynamics
      damping="0"
      friction="0" />
  </joint>
  <link
    name="Link_Robot">
    <inertial>
      <origin
        xyz="0.001184 -1.3132E-09 -0.061713"
        rpy="0 0 0" />
      <mass
        value="0.11527" />
      <inertia
        ixx="0.00022443"
        ixy="-7.1448E-12"
        ixz="-1.4317E-07"
        iyy="0.00012492"
        iyz="-8.0579E-13"
        izz="0.00034604" />
    </inertial>
    <visual>
      <origin
        xyz="0 0 0"
        rpy="0 0 0" />
      <geometry>
        <mesh
          filename="package://css_bot/meshes/Link_Robot.STL" />
      </geometry>
      <material
        name="CoolGray1C">
        <color
          rgba="0.9 0.9 0.9 1" />
      </material>
    </visual>
    <collision>
      <origin
        xyz="0 0 0"
        rpy="0 0 0" />
      <geometry>
        <mesh
          filename="package://css_bot/meshes/Link_Robot.STL" />
      </geometry>
    </collision>
  </link>
  <joint
    name="Joint_Robot"
    type="fixed">
    <origin
      xyz="0 0 0"
      rpy="0 0 0" />
    <parent
      link="Link_Stom" />
    <child
      link="Link_Robot" />
    <axis
      xyz="0 0 0" />
  </joint>
  
  
  
  
  
  
    <link
    name="Link_RThumb_1">
    <inertial>
      <origin
        xyz="0.0140650741619172 -0.000866700389487746 0.000493641261576472"
        rpy="0 0 0" />
      <mass
        value="0.00760049826248115" />
      <inertia
        ixx="7.53993196111431E-07"
        ixy="-7.85688563141637E-09"
        ixz="1.82761019021648E-08"
        iyy="6.9648868128391E-07"
        iyz="1.53381809327462E-08"
        izz="4.843828191515E-07" />
    </inertial>
    <visual>
      <origin
        xyz="0 0 0"
        rpy="0 0 0" />
      <geometry>
        <mesh
          filename="package://css_bot/meshes/Link_RThumb_1.STL" />
      </geometry>
      <material
        name="CoolGray4C">
        <color
          rgba="0.74 0.74 0.74 1" />
      </material>
    </visual>
    <collision>
      <origin
        xyz="0 0 0"
        rpy="0 0 0" />
      <geometry>
        <mesh
          filename="package://css_bot/meshes/Link_RThumb_1.STL" />
      </geometry>
    </collision>
  </link>
  <joint
    name="Joint_RThumb_1"
    type="revolute">
    <origin
      xyz="0.003 -0.045397 0.03103"
      rpy="2.9995 -1.4826 1.7134" />
    <parent
      link="Link_RWrist" />
    <child
      link="Link_RThumb_1" />
    <axis
      xyz="0 0 1" />
    <limit
      lower="0"
      upper="1.6"
      effort="10"
      velocity="10" />
    <dynamics
      damping="0"
      friction="0" />
  </joint>
  <link
    name="Link_RThumb_2">
    <inertial>
      <origin
        xyz="0.0173127856402474 -0.0001340555630263 2.16970978961228E-08"
        rpy="0 0 0" />
      <mass
        value="0.00708329727896718" />
      <inertia
        ixx="5.04037387490672E-07"
        ixy="-9.9660246298644E-10"
        ixz="4.69943053853463E-13"
        iyy="6.9687237987952E-07"
        iyz="-1.78856206059794E-13"
        izz="5.78434914296183E-07" />
    </inertial>
    <visual>
      <origin
        xyz="0 0 0"
        rpy="0 0 0" />
      <geometry>
        <mesh
          filename="package://css_bot/meshes/Link_RThumb_2.STL" />
      </geometry>
      <material
        name="CoolGray4C">
        <color
          rgba="0.74 0.74 0.74 1" />
      </material>
    </visual>
    <collision>
      <origin
        xyz="0 0 0"
        rpy="0 0 0" />
      <geometry>
        <mesh
          filename="package://css_bot/meshes/Link_RThumb_2.STL" />
      </geometry>
    </collision>
  </link>
  <joint
    name="Joint_RThumb_2"
    type="fixed">
    <origin
      xyz="0.029882 0.00037406 0.0027249"
      rpy="-0.5236 -0.17453 0.012517" />
    <parent
      link="Link_RThumb_1" />
    <child
      link="Link_RThumb_2" />
    <axis
      xyz="0 0 1" />
    <limit
      lower="0"
      upper="1.6"
      effort="10"
      velocity="10" />
    <dynamics
      damping="0"
      friction="0" />
    <mimic
      joint="Joint_RThumb_1"
      multiplier="1"
      offset="0" />
  </joint>
  <link
    name="Link_RThumb_3">
    <inertial>
      <origin
        xyz="0.0119386269568158 -0.00047726662252473 7.29735140647669E-08"
        rpy="0 0 0" />
      <mass
        value="0.00525708327193122" />
      <inertia
        ixx="2.36694125920009E-07"
        ixy="-2.70310461402188E-08"
        ixz="2.30328012641141E-12"
        iyy="2.94242791405694E-07"
        iyz="9.08055406898281E-13"
        izz="3.22801505060777E-07" />
    </inertial>
    <visual>
      <origin
        xyz="0 0 0"
        rpy="0 0 0" />
      <geometry>
        <mesh
          filename="package://css_bot/meshes/Link_RThumb_3.STL" />
      </geometry>
      <material
        name="CoolGray4C">
        <color
          rgba="0.74 0.74 0.74 1" />
      </material>
    </visual>
    <collision>
      <origin
        xyz="0 0 0"
        rpy="0 0 0" />
      <geometry>
        <mesh
          filename="package://css_bot/meshes/Link_RThumb_3.STL" />
      </geometry>
    </collision>
  </link>
  <joint
    name="Joint_RThumb_3"
    type="fixed">
    <origin
      xyz="0.035 0 0"
      rpy="0 0 0" />
    <parent
      link="Link_RThumb_2" />
    <child
      link="Link_RThumb_3" />
    <axis
      xyz="0 0 1" />
    <limit
      lower="0"
      upper="1.6"
      effort="10"
      velocity="10" />
    <dynamics
      damping="0"
      friction="0" />
    <mimic
      joint="Joint_RThumb_2"
      multiplier="1"
      offset="0" />
  </joint>
  <link
    name="Link_RIndex_1">
    <inertial>
      <origin
        xyz="0.0185238984506864 -0.000125937950048477 -4.58839659212007E-07"
        rpy="0 0 0" />
      <mass
        value="0.00449425043848453" />
      <inertia
        ixx="2.15205930418439E-07"
        ixy="-7.2123907915719E-10"
        ixz="2.73292347778707E-11"
        iyy="3.40384122566586E-07"
        iyz="-1.62240605972699E-11"
        izz="2.93684053228689E-07" />
    </inertial>
    <visual>
      <origin
        xyz="0 0 0"
        rpy="0 0 0" />
      <geometry>
        <mesh
          filename="package://css_bot/meshes/Link_RIndex_1.STL" />
      </geometry>
      <material
        name="CoolGray4C">
        <color
          rgba="0.74 0.74 0.74 1" />
      </material>
    </visual>
    <collision>
      <origin
        xyz="0 0 0"
        rpy="0 0 0" />
      <geometry>
        <mesh
          filename="package://css_bot/meshes/Link_RIndex_1.STL" />
      </geometry>
    </collision>
  </link>
  <joint
    name="Joint_RIndex_1"
    type="revolute">
    <origin
      xyz="0.002 -0.11282 0.03361"
      rpy="0 -0.087266 -1.5708" />
    <parent
      link="Link_RWrist" />
    <child
      link="Link_RIndex_1" />
    <axis
      xyz="0 0 1" />
    <limit
      lower="0"
      upper="1.6"
      effort="10"
      velocity="10" />
    <dynamics
      damping="0"
      friction="0" />
  </joint>
  <link
    name="Link_RIndex_2">
    <inertial>
      <origin
        xyz="0.0109552144291361 -0.000710332764787408 4.87469036580812E-07"
        rpy="0 0 0" />
      <mass
        value="0.00280391892561082" />
      <inertia
        ixx="8.9191983587886E-08"
        ixy="-7.28832341636794E-09"
        ixz="-3.28391516315246E-12"
        iyy="1.11901678548665E-07"
        iyz="6.59768762393691E-12"
        izz="1.06518258060323E-07" />
    </inertial>
    <visual>
      <origin
        xyz="0 0 0"
        rpy="0 0 0" />
      <geometry>
        <mesh
          filename="package://css_bot/meshes/Link_RIndex_2.STL" />
      </geometry>
      <material
        name="CoolGray4C">
        <color
          rgba="0.74 0.74 0.74 1" />s
      </material>
    </visual>
    <collision>
      <origin
        xyz="0 0 0"
        rpy="0 0 0" />
      <geometry>
        <mesh
          filename="package://css_bot/meshes/Link_RIndex_2.STL" />
      </geometry>
    </collision>
  </link>
  <joint
    name="Joint_RIndex_2"
    type="fixed">
    <origin
      xyz="0.037 0 0"
      rpy="0 0 0" />
    <parent
      link="Link_RIndex_1" />
    <child
      link="Link_RIndex_2" />
    <axis
      xyz="0 0 1" />
    <limit
      lower="0"
      upper="1.6"
      effort="10"
      velocity="10" />
    <dynamics
      damping="0"
      friction="0" />
    <mimic
      joint="Joint_RIndex_1"
      multiplier="1"
      offset="0" />
  </joint>
  <link
    name="Link_RIndex_3">
    <inertial>
      <origin
        xyz="0.0115790835288717 -0.000175670628243585 2.27585620302118E-06"
        rpy="0 0 0" />
      <mass
        value="0.00254013681905526" />
      <inertia
        ixx="6.37572268264825E-08"
        ixy="-8.5200097859829E-09"
        ixz="3.2463080248338E-11"
        iyy="8.96695930587408E-08"
        iyz="3.87818885230601E-11"
        izz="9.39889377118956E-08" />
    </inertial>
    <visual>
      <origin
        xyz="0 0 0"
        rpy="0 0 0" />
      <geometry>
        <mesh
          filename="package://css_bot/meshes/Link_RIndex_3.STL" />
      </geometry>
      <material
        name="CoolGray4C">
        <color
          rgba="0.74 0.74 0.74 1" />
      </material>
    </visual>
    <collision>
      <origin
        xyz="0 0 0"
        rpy="0 0 0" />
      <geometry>
        <mesh
          filename="package://css_bot/meshes/Link_RIndex_3.STL" />
      </geometry>
    </collision>
  </link>
  <joint
    name="Joint_RIndex_3"
    type="fixed">
    <origin
      xyz="0.0225 0 0"
      rpy="0 0 0" />
    <parent
      link="Link_RIndex_2" />
    <child
      link="Link_RIndex_3" />
    <axis
      xyz="0 0 1" />
    <limit
      lower="0"
      upper="1.6"
      effort="10"
      velocity="10" />
    <dynamics
      damping="0"
      friction="0" />
    <mimic
      joint="Joint_RIndex_2"
      multiplier="1"
      offset="0" />
  </joint>
  <link
    name="Link_RMajor_1">
    <inertial>
      <origin
        xyz="0.0196007263886085 -0.0001347564187624 -4.0771949519347E-07"
        rpy="0 0 0" />
      <mass
        value="0.00546384233515643" />
      <inertia
        ixx="2.90857369590845E-07"
        ixy="-3.7801729181768E-10"
        ixz="2.7353697124717E-11"
        iyy="4.54524664157687E-07"
        iyz="-1.97606566252737E-11"
        izz="3.92361454659582E-07" />
    </inertial>
    <visual>
      <origin
        xyz="0 0 0"
        rpy="0 0 0" />
      <geometry>
        <mesh
          filename="package://css_bot/meshes/Link_RMajor_1.STL" />
      </geometry>
      <material
        name="CoolGray4C">
        <color
          rgba="0.74 0.74 0.74 1" />
      </material>
    </visual>
    <collision>
      <origin
        xyz="0 0 0"
        rpy="0 0 0" />
      <geometry>
        <mesh
          filename="package://css_bot/meshes/Link_RMajor_1.STL" />
      </geometry>
    </collision>
  </link>
  <joint
    name="Joint_RMajor_1"
    type="revolute">
    <origin
      xyz="0.002 -0.1145 0.006"
      rpy="0 0 -1.5708" />
    <parent
      link="Link_RWrist" />
    <child
      link="Link_RMajor_1" />
    <axis
      xyz="0 0 1" />
    <limit
      lower="0"
      upper="1.6"
      effort="10"
      velocity="10" />
    <dynamics
      damping="0"
      friction="0" />
  </joint>
  <link
    name="Link_RMajor_2">
    <inertial>
      <origin
        xyz="0.0116486639163798 -0.000702186510968983 2.86493438445001E-07"
        rpy="0 0 0" />
      <mass
        value="0.00351617504597625" />
      <inertia
        ixx="1.2665472017777E-07"
        ixy="-9.89893387427191E-09"
        ixz="-3.85504671221877E-12"
        iyy="1.59849556256639E-07"
        iyz="6.05192111867138E-12"
        izz="1.52787960983799E-07" />
    </inertial>
    <visual>
      <origin
        xyz="0 0 0"
        rpy="0 0 0" />
      <geometry>
        <mesh
          filename="package://css_bot/meshes/Link_RMajor_2.STL" />
      </geometry>
      <material
        name="CoolGray4C">
        <color
          rgba="0.74 0.74 0.74 1" />
      </material>
    </visual>
    <collision>
      <origin
        xyz="0 0 0"
        rpy="0 0 0" />
      <geometry>
        <mesh
          filename="package://css_bot/meshes/Link_RMajor_2.STL" />
      </geometry>
    </collision>
  </link>
  <joint
    name="Joint_RMajor_2"
    type="fixed">
    <origin
      xyz="0.039 0 0"
      rpy="0 0 0" />
    <parent
      link="Link_RMajor_1" />
    <child
      link="Link_RMajor_2" />
    <axis
      xyz="0 0 1" />
    <limit
      lower="0"
      upper="1.6"
      effort="10"
      velocity="10" />
    <dynamics
      damping="0"
      friction="0" />
    <mimic
      joint="Joint_RMajor_1"
      multiplier="1"
      offset="0" />
  </joint>
  <link
    name="Link_RMajor_3">
    <inertial>
      <origin
        xyz="0.0120357954291658 -0.0002168176016695 2.74109565517877E-07"
        rpy="0 0 0" />
      <mass
        value="0.0031118218613676" />
      <inertia
        ixx="8.93862399938747E-08"
        ixy="-1.21559780061049E-08"
        ixz="5.75108206324178E-12"
        iyy="1.2794286537599E-07"
        iyz="2.54772945542481E-12"
        izz="1.35101776695167E-07" />
    </inertial>
    <visual>
      <origin
        xyz="0 0 0"
        rpy="0 0 0" />
      <geometry>
        <mesh
          filename="package://css_bot/meshes/Link_RMajor_3.STL" />
      </geometry>
      <material
        name="CoolGray4C">
        <color
          rgba="0.74 0.74 0.74 1" />
      </material>
    </visual>
    <collision>
      <origin
        xyz="0 0 0"
        rpy="0 0 0" />
      <geometry>
        <mesh
          filename="package://css_bot/meshes/Link_RMajor_3.STL" />
      </geometry>
    </collision>
  </link>
  <joint
    name="Joint_RMajor_3"
    type="fixed">
    <origin
      xyz="0.024 0 0"
      rpy="0 0 0" />
    <parent
      link="Link_RMajor_2" />
    <child
      link="Link_RMajor_3" />
    <axis
      xyz="0 0 1" />
    <limit
      lower="0"
      upper="1.6"
      effort="10"
      velocity="10" />
    <dynamics
      damping="0"
      friction="0" />
    <mimic
      joint="Joint_RMajor_2"
      multiplier="1"
      offset="0" />
  </joint>
  <link
    name="Link_RRing_1">
    <inertial>
      <origin
        xyz="0.0185238937903398 -0.00012593442971201 -4.40970636644833E-07"
        rpy="0 0 0" />
      <mass
        value="0.00449424653456038" />
      <inertia
        ixx="2.15205750433413E-07"
        ixy="-7.2109947988286E-10"
        ixz="2.74316654621698E-11"
        iyy="3.40383944325955E-07"
        iyz="-1.54278599720868E-11"
        izz="2.93684135042829E-07" />
    </inertial>
    <visual>
      <origin
        xyz="0 0 0"
        rpy="0 0 0" />
      <geometry>
        <mesh
          filename="package://css_bot/meshes/Link_RRing_1.STL" />
      </geometry>
      <material
        name="CoolGray4C">
        <color
          rgba="0.74 0.74 0.74 1" />
      </material>
    </visual>
    <collision>
      <origin
        xyz="0 0 0"
        rpy="0 0 0" />
      <geometry>
        <mesh
          filename="package://css_bot/meshes/Link_RRing_1.STL" />
      </geometry>
    </collision>
  </link>
  <joint
    name="Joint_RRing_1"
    type="revolute">
    <origin
      xyz="0.002 -0.1122 -0.02161"
      rpy="0 0.087266 -1.5708" />
    <parent
      link="Link_RWrist" />
    <child
      link="Link_RRing_1" />
    <axis
      xyz="0 0 1" />
    <limit
      lower="0"
      upper="1.6"
      effort="10"
      velocity="10" />
    <dynamics
      damping="0"
      friction="0" />
  </joint>
  <link
    name="Link_RRing_2">
    <inertial>
      <origin
        xyz="0.010955213839177 -0.000710332931102009 4.86656602932678E-07"
        rpy="0 0 0" />
      <mass
        value="0.00280391986818482" />
      <inertia
        ixx="8.91919857057655E-08"
        ixy="-7.28833494976697E-09"
        ixz="-3.25143429068213E-12"
        iyy="1.11901768400301E-07"
        iyz="6.62651005186212E-12"
        izz="1.06518305367442E-07" />
    </inertial>
    <visual>
      <origin
        xyz="0 0 0"
        rpy="0 0 0" />
      <geometry>
        <mesh
          filename="package://css_bot/meshes/Link_RRing_2.STL" />
      </geometry>
      <material
        name="CoolGray4C">
        <color
          rgba="0.74 0.74 0.74 1" />
      </material>
    </visual>
    <collision>
      <origin
        xyz="0 0 0"
        rpy="0 0 0" />
      <geometry>
        <mesh
          filename="package://css_bot/meshes/Link_RRing_2.STL" />
      </geometry>
    </collision>
  </link>
  <joint
    name="Joint_RRing_2"
    type="fixed">
    <origin
      xyz="0.037 0 0"
      rpy="0 0 0" />
    <parent
      link="Link_RRing_1" />
    <child
      link="Link_RRing_2" />
    <axis
      xyz="0 0 1" />
    <limit
      lower="0"
      upper="1.6"
      effort="10"
      velocity="10" />
    <dynamics
      damping="0"
      friction="0" />
    <mimic
      joint="Joint_RRing_1"
      multiplier="1"
      offset="0" />
  </joint>
  <link
    name="Link_RRing_3">
    <inertial>
      <origin
        xyz="0.0115786695072247 -0.000175665524545371 2.21807422717823E-06"
        rpy="0 0 0" />
      <mass
        value="0.00254021691656577" />
      <inertia
        ixx="6.37571833436295E-08"
        ixy="-8.51974807244698E-09"
        ixz="3.11116022257094E-11"
        iyy="8.96765457277619E-08"
        iyz="3.88746755362711E-11"
        izz="9.39952904042309E-08" />
    </inertial>
    <visual>
      <origin
        xyz="0 0 0"
        rpy="0 0 0" />
      <geometry>
        <mesh
          filename="package://css_bot/meshes/Link_RRing_3.STL" />
      </geometry>
      <material
        name="CoolGray4C">
        <color
          rgba="0.74 0.74 0.74 1" />
      </material>
    </visual>
    <collision>
      <origin
        xyz="0 0 0"
        rpy="0 0 0" />
      <geometry>
        <mesh
          filename="package://css_bot/meshes/Link_RRing_3.STL" />
      </geometry>
    </collision>
  </link>
  <joint
    name="Joint_RRing_3"
    type="fixed">
    <origin
      xyz="0.0225 0 0"
      rpy="0 0 0.018814" />
    <parent
      link="Link_RRing_2" />
    <child
      link="Link_RRing_3" />
    <axis
      xyz="0 0 1" />
    <limit
      lower="0"
      upper="1.6"
      effort="10"
      velocity="10" />
    <dynamics
      damping="0"
      friction="0" />
    <mimic
      joint="Joint_RRing_2"
      multiplier="1"
      offset="0" />
  </joint>
  <link
    name="Link_RLittle_1">
    <inertial>
      <origin
        xyz="0.0152875006195252 -0.000111811379262194 -7.43901488797771E-07"
        rpy="0 0 0" />
      <mass
        value="0.00309307243256906" />
      <inertia
        ixx="1.12320137885361E-07"
        ixy="-7.85044245495428E-10"
        ixz="2.03748781059237E-11"
        iyy="1.70740544190538E-07"
        iyz="-1.53840450916917E-11"
        izz="1.47320566219947E-07" />
    </inertial>
    <visual>
      <origin
        xyz="0 0 0"
        rpy="0 0 0" />
      <geometry>
        <mesh
          filename="package://css_bot/meshes/Link_RLittle_1.STL" />
      </geometry>
      <material
        name="CoolGray4C">
        <color
          rgba="0.74 0.74 0.74 1" />
      </material>
    </visual>
    <collision>
      <origin
        xyz="0 0 0"
        rpy="0 0 0" />
      <geometry>
        <mesh
          filename="package://css_bot/meshes/Link_RLittle_1.STL" />
      </geometry>
    </collision>
  </link>
  <joint
    name="Joint_RLittle_1"
    type="revolute">
    <origin
      xyz="0.002 -0.1057 -0.046247"
      rpy="0 0.20944 -1.5708" />
    <parent
      link="Link_RWrist" />
    <child
      link="Link_RLittle_1" />
    <axis
      xyz="0 0 1" />
    <limit
      lower="0"
      upper="1.6"
      effort="10"
      velocity="10" />
    <dynamics
      damping="0"
      friction="0" />
  </joint>
  <link
    name="Link_RLittle_2">
    <inertial>
      <origin
        xyz="0.0104115108624748 -0.000572529625667395 6.12915531772451E-07"
        rpy="0 0 0" />
      <mass
        value="0.00171550730568762" />
      <inertia
        ixx="4.1527330331584E-08"
        ixy="-2.92585177592537E-09"
        ixz="-1.96062834001558E-12"
        iyy="5.12635989560815E-08"
        iyz="3.94229446480886E-12"
        izz="4.80167727409877E-08" />
    </inertial>
    <visual>
      <origin
        xyz="0 0 0"
        rpy="0 0 0" />
      <geometry>
        <mesh
          filename="package://css_bot/meshes/Link_RLittle_2.STL" />
      </geometry>
      <material
        name="CoolGray4C">
        <color
          rgba="0.74 0.74 0.74 1" />
      </material>
    </visual>
    <collision>
      <origin
        xyz="0 0 0"
        rpy="0 0 0" />
      <geometry>
        <mesh
          filename="package://css_bot/meshes/Link_RLittle_2.STL" />
      </geometry>
    </collision>
  </link>
  <joint
    name="Joint_RLittle_2"
    type="fixed">
    <origin
      xyz="0.031 0 0"
      rpy="0 0 0" />
    <parent
      link="Link_RLittle_1" />
    <child
      link="Link_RLittle_2" />
    <axis
      xyz="0 0 1" />
    <limit
      lower="0"
      upper="1.6"
      effort="10"
      velocity="10" />
    <dynamics
      damping="0"
      friction="0" />
    <mimic
      joint="Joint_RLittle_1"
      multiplier="1"
      offset="0" />
  </joint>
  <link
    name="Link_RLittle_3">
    <inertial>
      <origin
        xyz="0.0106227968710161 -7.47753698464859E-05 7.75469095520842E-07"
        rpy="0 0 0" />
      <mass
        value="0.00169737799639663" />
      <inertia
        ixx="3.18900150531908E-08"
        ixy="-4.11226171434846E-09"
        ixz="-2.48010413305405E-12"
        iyy="4.51752802734697E-08"
        iyz="2.70683189103996E-12"
        izz="4.68880164013037E-08" />
    </inertial>
    <visual>
      <origin
        xyz="0 0 0"
        rpy="0 0 0" />
      <geometry>
        <mesh
          filename="package://css_bot/meshes/Link_RLittle_3.STL" />
      </geometry>
      <material
        name="CoolGray4C">
        <color
          rgba="0.74 0.74 0.74 1" />
      </material>
    </visual>
    <collision>
      <origin
        xyz="0 0 0"
        rpy="0 0 0" />
      <geometry>
        <mesh
          filename="package://css_bot/meshes/Link_RLittle_3.STL" />
      </geometry>
    </collision>
  </link>
  <joint
    name="Joint_RLittle_3"
    type="fixed">
    <origin
      xyz="0.02 0 0"
      rpy="0 0 0" />
    <parent
      link="Link_RLittle_2" />
    <child
      link="Link_RLittle_3" />
    <axis
      xyz="0 0 1" />
    <limit
      lower="0"
      upper="1.6"
      effort="10"
      velocity="10" />
    <dynamics
      damping="0"
      friction="0" />
    <mimic
      joint="Joint_RLittle_2"
      multiplier="1"
      offset="0" />
  </joint>
  
  
  
  
  
  
  <link
    name="Link_LThumb_1">
    <inertial>
      <origin
        xyz="0.0140531162949827 -0.00104268543106537 -0.000493648513063605"
        rpy="0 0 0" />
      <mass
        value="0.00760047786360614" />
      <inertia
        ixx="7.53787273775299E-07"
        ixy="-8.57396632083256E-09"
        ixz="-1.8466777870601E-08"
        iyy="6.96692759358884E-07"
        iyz="-1.51070311033017E-08"
        izz="4.84381509426281E-07" />
    </inertial>
    <visual>
      <origin
        xyz="0 0 0"
        rpy="0 0 0" />
      <geometry>
        <mesh
          filename="package://css_bot/meshes/Link_LThumb_1.STL" />
      </geometry>
      <material
        name="CoolGray4C">
        <color
          rgba="0.74 0.74 0.74 1" />
      </material>
    </visual>
    <collision>
      <origin
        xyz="0 0 0"
        rpy="0 0 0" />
      <geometry>
        <mesh
          filename="package://css_bot/meshes/Link_LThumb_1.STL" />
      </geometry>
    </collision>
  </link>
  <joint
    name="Joint_LThumb_1"
    type="revolute">
    <origin
      xyz="0.003 -0.045397 -0.03103"
      rpy="3.1416 1.4835 1.5708" />
    <parent
      link="Link_LWrist" />
    <child
      link="Link_LThumb_1" />
    <axis
      xyz="0 0 1" />
    <limit
      lower="0"
      upper="1.6"
      effort="10"
      velocity="10" />
    <dynamics
      damping="0"
      friction="0" />
  </joint>
  <link
    name="Link_LThumb_2">
    <inertial>
      <origin
        xyz="0.0173128074198611 -0.000134050024399854 -2.83364972042399E-08"
        rpy="0 0 0" />
      <mass
        value="0.00708330299375238" />
      <inertia
        ixx="5.0403773219725E-07"
        ixy="-9.97324524798674E-10"
        ixz="1.28982925813022E-12"
        iyy="6.96874259283379E-07"
        iyz="7.56952402167825E-13"
        izz="5.78436207553767E-07" />
    </inertial>
    <visual>
      <origin
        xyz="0 0 0"
        rpy="0 0 0" />
      <geometry>
        <mesh
          filename="package://css_bot/meshes/Link_LThumb_2.STL" />
      </geometry>
      <material
        name="CoolGray4C">
        <color
          rgba="0.74 0.74 0.74 1" />
      </material>
    </visual>
    <collision>
      <origin
        xyz="0 0 0"
        rpy="0 0 0" />
      <geometry>
        <mesh
          filename="package://css_bot/meshes/Link_LThumb_2.STL" />
      </geometry>
    </collision>
  </link>
  <joint
    name="Joint_LThumb_2"
    type="fixed">
    <origin
      xyz="0.029885 0 -0.0027249"
      rpy="0.5236 0.17453 0" />
    <parent
      link="Link_LThumb_1" />
    <child
      link="Link_LThumb_2" />
    <axis
      xyz="0 0 1" />
    <limit
      lower="0"
      upper="1.6"
      effort="10"
      velocity="10" />
    <dynamics
      damping="0"
      friction="0" />
    <mimic
      joint="Joint_LThumb_1"
      multiplier="1"
      offset="0" />
  </joint>
  <link
    name="Link_LThumb_3">
    <inertial>
      <origin
        xyz="0.0119388006762084 -0.00047730019740809 7.70998863086625E-08"
        rpy="0 0 0" />
      <mass
        value="0.00525715307852216" />
      <inertia
        ixx="2.36694234055213E-07"
        ixy="-2.70289261009951E-08"
        ixz="1.7822669103509E-12"
        iyy="2.94246392401849E-07"
        iyz="1.11843996711644E-12"
        izz="3.22805773448004E-07" />
    </inertial>
    <visual>
      <origin
        xyz="0 0 0"
        rpy="0 0 0" />
      <geometry>
        <mesh
          filename="package://css_bot/meshes/Link_LThumb_3.STL" />
      </geometry>
      <material
        name="CoolGray4C">
        <color
          rgba="0.74 0.74 0.74 1" />
      </material>
    </visual>
    <collision>
      <origin
        xyz="0 0 0"
        rpy="0 0 0" />
      <geometry>
        <mesh
          filename="package://css_bot/meshes/Link_LThumb_3.STL" />
      </geometry>
    </collision>
  </link>
  <joint
    name="Joint_LThumb_3"
    type="fixed">
    <origin
      xyz="0.035 0 0"
      rpy="0 0 0" />
    <parent
      link="Link_LThumb_2" />
    <child
      link="Link_LThumb_3" />
    <axis
      xyz="0 0 1" />
    <limit
      lower="0"
      upper="1.6"
      effort="10"
      velocity="10" />
    <dynamics
      damping="0"
      friction="0" />
    <mimic
      joint="Joint_LThumb_2"
      multiplier="1"
      offset="0" />
  </joint>
  <link
    name="Link_LIndex_1">
    <inertial>
      <origin
        xyz="0.0185238926941235 -0.000125934511450237 -4.3898079343796E-07"
        rpy="0 0 0" />
      <mass
        value="0.00449424668185045" />
      <inertia
        ixx="2.15205760742586E-07"
        ixy="-7.21084227827353E-10"
        ixz="2.74174100189868E-11"
        iyy="3.40383953465369E-07"
        iyz="-1.53031275030132E-11"
        izz="2.9368423459638E-07" />
    </inertial>
    <visual>
      <origin
        xyz="0 0 0"
        rpy="0 0 0" />
      <geometry>
        <mesh
          filename="package://css_bot/meshes/Link_LIndex_1.STL" />
      </geometry>
      <material
        name="CoolGray4C">
        <color
          rgba="0.74 0.74 0.74 1" />
      </material>
    </visual>
    <collision>
      <origin
        xyz="0 0 0"
        rpy="0 0 0" />
      <geometry>
        <mesh
          filename="package://css_bot/meshes/Link_LIndex_1.STL" />
      </geometry>
    </collision>
  </link>
  <joint
    name="Joint_LIndex_1"
    type="revolute">
    <origin
      xyz="0.002 -0.11282 -0.03361"
      rpy="0 0.087266 -1.5708" />
    <parent
      link="Link_LWrist" />
    <child
      link="Link_LIndex_1" />
    <axis
      xyz="0 0 1" />
    <limit
      lower="0"
      upper="1.6"
      effort="10"
      velocity="10" />
    <dynamics
      damping="0"
      friction="0" />
  </joint>
  <link
    name="Link_LIndex_2">
    <inertial>
      <origin
        xyz="0.0109552153261518 -0.000710332553002985 4.85134561079015E-07"
        rpy="0 0 0" />
      <mass
        value="0.00280391900446383" />
      <inertia
        ixx="8.91919864544343E-08"
        ixy="-7.28832234690785E-09"
        ixz="-3.25184358008431E-12"
        iyy="1.11901700463453E-07"
        iyz="6.60487637498087E-12"
        izz="1.06518264271742E-07" />
    </inertial>
    <visual>
      <origin
        xyz="0 0 0"
        rpy="0 0 0" />
      <geometry>
        <mesh
          filename="package://css_bot/meshes/Link_LIndex_2.STL" />
      </geometry>
      <material
        name="CoolGray4C">
        <color
          rgba="0.74 0.74 0.74 1" />
      </material>
    </visual>
    <collision>
      <origin
        xyz="0 0 0"
        rpy="0 0 0" />
      <geometry>
        <mesh
          filename="package://css_bot/meshes/Link_LIndex_2.STL" />
      </geometry>
    </collision>
  </link>
  <joint
    name="Joint_LIndex_2"
    type="fixed">
    <origin
      xyz="0.037 0 0"
      rpy="0 0 0" />
    <parent
      link="Link_LIndex_1" />
    <child
      link="Link_LIndex_2" />
    <axis
      xyz="0 0 1" />
    <limit
      lower="0"
      upper="1.6"
      effort="10"
      velocity="10" />
    <dynamics
      damping="0"
      friction="0" />
    <mimic
      joint="Joint_LIndex_1"
      multiplier="1"
      offset="0" />
  </joint>
  <link
    name="Link_LIndex_3">
    <inertial>
      <origin
        xyz="0.0115791460796218 -0.000175668993983802 2.27407274902558E-06"
        rpy="0 0 0" />
      <mass
        value="0.00254014708620773" />
      <inertia
        ixx="6.37572001403401E-08"
        ixy="-8.51998145176508E-09"
        ixz="3.24940672534732E-11"
        iyy="8.96701351437404E-08"
        iyz="3.87665282958097E-11"
        izz="9.3989551172606E-08" />
    </inertial>
    <visual>
      <origin
        xyz="0 0 0"
        rpy="0 0 0" />
      <geometry>
        <mesh
          filename="package://css_bot/meshes/Link_LIndex_3.STL" />
      </geometry>
      <material
        name="CoolGray4C">
        <color
          rgba="0.74 0.74 0.74 1" />
      </material>
    </visual>
    <collision>
      <origin
        xyz="0 0 0"
        rpy="0 0 0" />
      <geometry>
        <mesh
          filename="package://css_bot/meshes/Link_LIndex_3.STL" />
      </geometry>
    </collision>
  </link>
  <joint
    name="Joint_LIndex_3"
    type="fixed">
    <origin
      xyz="0.0225 0 0"
      rpy="0 0 0" />
    <parent
      link="Link_LIndex_2" />
    <child
      link="Link_LIndex_3" />
    <axis
      xyz="0 0 1" />
    <limit
      lower="0"
      upper="1.6"
      effort="10"
      velocity="10" />
    <dynamics
      damping="0"
      friction="0" />
    <mimic
      joint="Joint_LIndex_2"
      multiplier="1"
      offset="0" />
  </joint>
  <link
    name="Link_LMajor_1">
    <inertial>
      <origin
        xyz="0.0196007263892127 -0.000134756417774856 -4.07720566170111E-07"
        rpy="0 0 0" />
      <mass
        value="0.00546384233455036" />
      <inertia
        ixx="2.90857369558574E-07"
        ixy="-3.78017257718821E-10"
        ixz="2.73536497845999E-11"
        iyy="4.54524664173514E-07"
        iyz="-1.97606643502405E-11"
        izz="3.92361454639841E-07" />
    </inertial>
    <visual>
      <origin
        xyz="0 0 0"
        rpy="0 0 0" />
      <geometry>
        <mesh
          filename="package://css_bot/meshes/Link_LMajor_1.STL" />
      </geometry>
      <material
        name="CoolGray4C">
        <color
          rgba="0.74 0.74 0.74 1" />
      </material>
    </visual>
    <collision>
      <origin
        xyz="0 0 0"
        rpy="0 0 0" />
      <geometry>
        <mesh
          filename="package://css_bot/meshes/Link_LMajor_1.STL" />
      </geometry>
    </collision>
  </link>
  <joint
    name="Joint_LMajor_1"
    type="revolute">
    <origin
      xyz="0.002 -0.1145 -0.006"
      rpy="0 0 -1.5708" />
    <parent
      link="Link_LWrist" />
    <child
      link="Link_LMajor_1" />
    <axis
      xyz="0 0 1" />
    <limit
      lower="0"
      upper="1.6"
      effort="10"
      velocity="10" />
    <dynamics
      damping="0"
      friction="0" />
  </joint>
  <link
    name="Link_LMajor_2">
    <inertial>
      <origin
        xyz="0.011648659647293 -0.000702187075681621 2.83467225664635E-07"
        rpy="0 0 0" />
      <mass
        value="0.00351617615034127" />
      <inertia
        ixx="1.2665473921092E-07"
        ixy="-9.89893428524157E-09"
        ixz="-3.86716247516594E-12"
        iyy="1.59849605832734E-07"
        iyz="6.05240750323787E-12"
        izz="1.52788073698646E-07" />
    </inertial>
    <visual>
      <origin
        xyz="0 0 0"
        rpy="0 0 0" />
      <geometry>
        <mesh
          filename="package://css_bot/meshes/Link_LMajor_2.STL" />
      </geometry>
      <material
        name="CoolGray4C">
        <color
          rgba="0.74 0.74 0.74 1" />
      </material>
    </visual>
    <collision>
      <origin
        xyz="0 0 0"
        rpy="0 0 0" />
      <geometry>
        <mesh
          filename="package://css_bot/meshes/Link_LMajor_2.STL" />
      </geometry>
    </collision>
  </link>
  <joint
    name="Joint_LMajor_2"
    type="fixed">
    <origin
      xyz="0.039 0 0"
      rpy="0 0 0" />
    <parent
      link="Link_LMajor_1" />
    <child
      link="Link_LMajor_2" />
    <axis
      xyz="0 0 1" />
    <limit
      lower="0"
      upper="1.6"
      effort="10"
      velocity="10" />
    <dynamics
      damping="0"
      friction="0" />
    <mimic
      joint="Joint_LMajor_1"
      multiplier="1"
      offset="0" />
  </joint>
  <link
    name="Link_LMajor_3">
    <inertial>
      <origin
        xyz="0.012035794559891 -0.000216811906078834 2.66904889301145E-07"
        rpy="0 0 0" />
      <mass
        value="0.00311182147382576" />
      <inertia
        ixx="8.93863383928476E-08"
        ixy="-1.2155883633334E-08"
        ixz="5.60558023925288E-12"
        iyy="1.27942785785431E-07"
        iyz="2.58027519256053E-12"
        izz="1.35101762137213E-07" />
    </inertial>
    <visual>
      <origin
        xyz="0 0 0"
        rpy="0 0 0" />
      <geometry>
        <mesh
          filename="package://css_bot/meshes/Link_LMajor_3.STL" />
      </geometry>
      <material
        name="CoolGray4C">
        <color
          rgba="0.74 0.74 0.74 1" />
      </material>
    </visual>
    <collision>
      <origin
        xyz="0 0 0"
        rpy="0 0 0" />
      <geometry>
        <mesh
          filename="package://css_bot/meshes/Link_LMajor_3.STL" />
      </geometry>
    </collision>
  </link>
  <joint
    name="Joint_LMajor_3"
    type="fixed">
    <origin
      xyz="0.024 0 0"
      rpy="0 0 0" />
    <parent
      link="Link_LMajor_2" />
    <child
      link="Link_LMajor_3" />
    <axis
      xyz="0 0 1" />
    <limit
      lower="0"
      upper="1.6"
      effort="10"
      velocity="10" />
    <dynamics
      damping="0"
      friction="0" />
    <mimic
      joint="Joint_LMajor_2"
      multiplier="1"
      offset="0" />
  </joint>
  <link
    name="Link_LRing_1">
    <inertial>
      <origin
        xyz="0.0185239004568853 -0.000125938538401649 -4.56140695048735E-07"
        rpy="0 0 0" />
      <mass
        value="0.00449425011182624" />
      <inertia
        ixx="2.15205903498141E-07"
        ixy="-7.21266486632116E-10"
        ixz="2.73382005658042E-11"
        iyy="3.40384034583528E-07"
        iyz="-1.60735990932371E-11"
        izz="2.93684052748277E-07" />
    </inertial>
    <visual>
      <origin
        xyz="0 0 0"
        rpy="0 0 0" />
      <geometry>
        <mesh
          filename="package://css_bot/meshes/Link_LRing_1.STL" />
      </geometry>
      <material
        name="CoolGray4C">
        <color
          rgba="0.74 0.74 0.74 1" />
      </material>
    </visual>
    <collision>
      <origin
        xyz="0 0 0"
        rpy="0 0 0" />
      <geometry>
        <mesh
          filename="package://css_bot/meshes/Link_LRing_1.STL" />
      </geometry>
    </collision>
  </link>
  <joint
    name="Joint_LRing_1"
    type="revolute">
    <origin
      xyz="0.002 -0.1122 0.02161"
      rpy="0 -0.087266 -1.5708" />
    <parent
      link="Link_LWrist" />
    <child
      link="Link_LRing_1" />
    <axis
      xyz="0 0 1" />
    <limit
      lower="0"
      upper="1.6"
      effort="10"
      velocity="10" />
    <dynamics
      damping="0"
      friction="0" />
  </joint>
  <link
    name="Link_LRing_2">
    <inertial>
      <origin
        xyz="0.0109552129958177 -0.000710333116316714 4.85730358379399E-07"
        rpy="0 0 0" />
      <mass
        value="0.00280391977459406" />
      <inertia
        ixx="8.91919813738997E-08"
        ixy="-7.2883363611804E-09"
        ixz="-3.26872199705741E-12"
        iyy="1.1190174914146E-07"
        iyz="6.58398720839396E-12"
        izz="1.06518289168796E-07" />
    </inertial>
    <visual>
      <origin
        xyz="0 0 0"
        rpy="0 0 0" />
      <geometry>
        <mesh
          filename="package://css_bot/meshes/Link_LRing_2.STL" />
      </geometry>
      <material
        name="CoolGray4C">
        <color
          rgba="0.74 0.74 0.74 1" />
      </material>
    </visual>
    <collision>
      <origin
        xyz="0 0 0"
        rpy="0 0 0" />
      <geometry>
        <mesh
          filename="package://css_bot/meshes/Link_LRing_2.STL" />
      </geometry>
    </collision>
  </link>
  <joint
    name="Joint_LRing_2"
    type="fixed">
    <origin
      xyz="0.037 0 0"
      rpy="0 0 0" />
    <parent
      link="Link_LRing_1" />
    <child
      link="Link_LRing_2" />
    <axis
      xyz="0 0 1" />
    <limit
      lower="0"
      upper="1.6"
      effort="10"
      velocity="10" />
    <dynamics
      damping="0"
      friction="0" />
    <mimic
      joint="Joint_LRing_1"
      multiplier="1"
      offset="0" />
  </joint>
  <link
    name="Link_LRing_3">
    <inertial>
      <origin
        xyz="0.0115797299515769 -0.000175731453149391 2.13376914756647E-06"
        rpy="0 0 0" />
      <mass
        value="0.00254037252709634" />
      <inertia
        ixx="6.37570356284761E-08"
        ixy="-8.51698990824186E-09"
        ixz="3.31923567266008E-11"
        iyy="8.96878251230337E-08"
        iyz="3.89120800116945E-11"
        izz="9.40065725537166E-08" />
    </inertial>
    <visual>
      <origin
        xyz="0 0 0"
        rpy="0 0 0" />
      <geometry>
        <mesh
          filename="package://css_bot/meshes/Link_LRing_3.STL" />
      </geometry>
      <material
        name="CoolGray4C">
        <color
          rgba="0.74 0.74 0.74 1" />
      </material>
    </visual>
    <collision>
      <origin
        xyz="0 0 0"
        rpy="0 0 0" />
      <geometry>
        <mesh
          filename="package://css_bot/meshes/Link_LRing_3.STL" />
      </geometry>
    </collision>
  </link>
  <joint
    name="Joint_LRing_3"
    type="fixed">
    <origin
      xyz="0.0225 0 0"
      rpy="0 0 0" />
    <parent
      link="Link_LRing_2" />
    <child
      link="Link_LRing_3" />
    <axis
      xyz="0 0 1" />
    <limit
      lower="0"
      upper="1.6"
      effort="10"
      velocity="10" />
    <dynamics
      damping="0"
      friction="0" />
    <mimic
      joint="Joint_LRing_2"
      multiplier="1"
      offset="0" />
  </joint>
  <link
    name="Link_LLittle_1">
    <inertial>
      <origin
        xyz="0.0152874976897833 -0.000111808019569476 -7.54820590559424E-07"
        rpy="0 0 0" />
      <mass
        value="0.00309307061409576" />
      <inertia
        ixx="1.12320111834675E-07"
        ixy="-7.85070774682843E-10"
        ixz="2.0298870280799E-11"
        iyy="1.70740593663764E-07"
        iyz="-1.57310323852134E-11"
        izz="1.47320387901816E-07" />
    </inertial>
    <visual>
      <origin
        xyz="0 0 0"
        rpy="0 0 0" />
      <geometry>
        <mesh
          filename="package://css_bot/meshes/Link_LLittle_1.STL" />
      </geometry>
      <material
        name="CoolGray4C">
        <color
          rgba="0.74 0.74 0.74 1" />
      </material>
    </visual>
    <collision>
      <origin
        xyz="0 0 0"
        rpy="0 0 0" />
      <geometry>
        <mesh
          filename="package://css_bot/meshes/Link_LLittle_1.STL" />
      </geometry>
    </collision>
  </link>
  <joint
    name="Joint_LLittle_1"
    type="revolute">
    <origin
      xyz="0.002 -0.1057 0.046247"
      rpy="0 -0.20944 -1.5708" />
    <parent
      link="Link_LWrist" />
    <child
      link="Link_LLittle_1" />
    <axis
      xyz="0 0 1" />
    <limit
      lower="0"
      upper="1.6"
      effort="10"
      velocity="10" />
    <dynamics
      damping="0"
      friction="0" />
  </joint>
  <link
    name="Link_LLittle_2">
    <inertial>
      <origin
        xyz="0.0104114961125447 -0.0005725371618924 6.13451823588962E-07"
        rpy="0 0 0" />
      <mass
        value="0.00171550927986535" />
      <inertia
        ixx="4.15271581620942E-08"
        ixy="-2.92591626058025E-09"
        ixz="-1.98841866539279E-12"
        iyy="5.12637265927254E-08"
        iyz="3.92231934205248E-12"
        izz="4.80167291920927E-08" />
    </inertial>
    <visual>
      <origin
        xyz="0 0 0"
        rpy="0 0 0" />
      <geometry>
        <mesh
          filename="package://css_bot/meshes/Link_LLittle_2.STL" />
      </geometry>
      <material
        name="CoolGray4C">
        <color
          rgba="0.74 0.74 0.74 1" />
      </material>
    </visual>
    <collision>
      <origin
        xyz="0 0 0"
        rpy="0 0 0" />
      <geometry>
        <mesh
          filename="package://css_bot/meshes/Link_LLittle_2.STL" />
      </geometry>
    </collision>
  </link>
  <joint
    name="Joint_LLittle_2"
    type="fixed">
    <origin
      xyz="0.031 0 0"
      rpy="0 0 0" />
    <parent
      link="Link_LLittle_1" />
    <child
      link="Link_LLittle_2" />
    <axis
      xyz="0 0 1" />
    <limit
      lower="0"
      upper="1.6"
      effort="10"
      velocity="10" />
    <dynamics
      damping="0"
      friction="0" />
    <mimic
      joint="Joint_LLittle_1"
      multiplier="1"
      offset="0" />
  </joint>
  <link
    name="Link_LLittle_3">
    <inertial>
      <origin
        xyz="0.0106224064382969 -7.4812336857577E-05 2.3787573788514E-07"
        rpy="0 0 0" />
      <mass
        value="0.00169741579139509" />
      <inertia
        ixx="3.18966669321276E-08"
        ixy="-4.11179052599753E-09"
        ixz="1.0500239485452E-13"
        iyy="4.51645759665212E-08"
        iyz="2.6294485080187E-12"
        izz="4.68734191967405E-08" />
    </inertial>
    <visual>
      <origin
        xyz="0 0 0"
        rpy="0 0 0" />
      <geometry>
        <mesh
          filename="package://css_bot/meshes/Link_LLittle_3.STL" />
      </geometry>
      <material
        name="CoolGray4C">
        <color
          rgba="0.74 0.74 0.74 1" />
      </material>
    </visual>
    <collision>
      <origin
        xyz="0 0 0"
        rpy="0 0 0" />
      <geometry>
        <mesh
          filename="package://css_bot/meshes/Link_LLittle_3.STL" />
      </geometry>
    </collision>
  </link>
  <joint
    name="Joint_LLittle_3"
    type="fixed">
    <origin
      xyz="0.02 0 0"
      rpy="0 0 0" />
    <parent
      link="Link_LLittle_2" />
    <child
      link="Link_LLittle_3" />
    <axis
      xyz="0 0 1" />
    <limit
      lower="0"
      upper="1.6"
      effort="10"
      velocity="10" />
    <dynamics
      damping="0"
      friction="0" />
    <mimic
      joint="Joint_LLittle_2"
      multiplier="1"
      offset="0" />
  </joint>
  
  
  
  
  
  
  
  
  
</robot>
